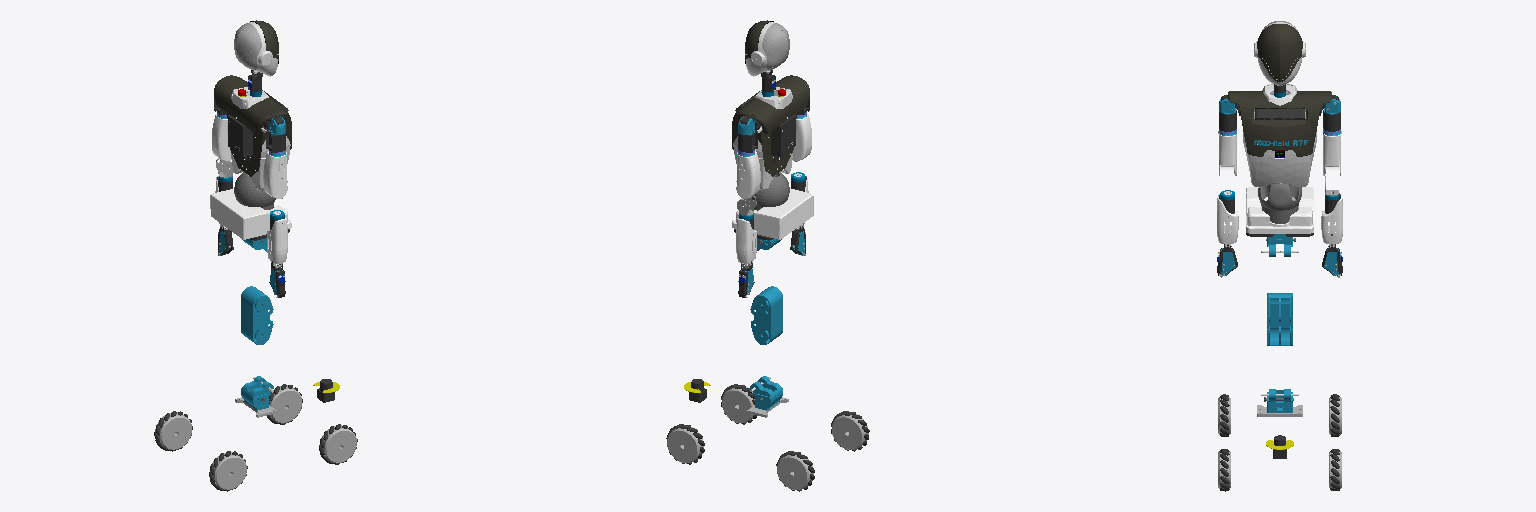
--- What the picture shows (computed from the rendered views, not written in the file) ---
The picture shows the robot from 3 angles, left to right: view 1: azimuth 30°, elevation 25°; view 2: azimuth 150°, elevation 25°; view 3: azimuth 270°, elevation 25°; orthographic projection.
Model SEED-Noid-Mover-typeF with 55 links and 54 joints (32 revolute, 2 continuous, 20 fixed), rooted at base_link, posed every joint at zero.
Visible links, largest first — view 1: body_link, waist_link, head_link, leg_knee_link, wheels_front_right_mecanum, wheels_rear_right_mecanum, wheels_rear_left_mecanum, wheels_front_left_mecanum, r_forearm_link, lifter_base_link, r_upperarm_link, hip_sphere_link (+2 smaller); view 2: body_link, head_link, waist_link, leg_knee_link, wheels_front_left_mecanum, wheels_rear_left_mecanum, wheels_rear_right_mecanum, wheels_front_right_mecanum, lifter_base_link, l_upperarm_link, l_forearm_link, hip_sphere_link (+2 smaller); view 3: body_link, head_link, waist_link, leg_knee_link, hip_sphere_link, r_forearm_link, l_forearm_link, lifter_base_link, l_upperarm_link, r_upperarm_link, l_shoulder_center, r_shoulder_center (+4 smaller).
Boxes of the visible links, <box> form: body_link: <box>214,75,291,190</box>; waist_link: <box>210,189,291,239</box>; head_link: <box>234,20,278,76</box>; leg_knee_link: <box>241,286,273,344</box>; wheels_front_right_mecanum: <box>319,424,357,464</box>; wheels_rear_right_mecanum: <box>209,451,247,491</box>; wheels_rear_left_mecanum: <box>154,411,192,451</box>; wheels_front_left_mecanum: <box>267,384,302,424</box>; r_forearm_link: <box>267,210,287,267</box>; lifter_base_link: <box>235,376,276,417</box>; r_upperarm_link: <box>263,151,287,198</box>; hip_sphere_link: <box>234,172,275,209</box>; body_link: <box>732,75,809,189</box>; head_link: <box>745,20,789,76</box>; waist_link: <box>732,188,813,239</box>; leg_knee_link: <box>750,286,782,344</box>; wheels_front_left_mecanum: <box>666,424,704,464</box>; wheels_rear_left_mecanum: <box>776,451,814,491</box>; wheels_rear_right_mecanum: <box>831,411,869,451</box>; wheels_front_right_mecanum: <box>721,384,756,424</box>; lifter_base_link: <box>747,376,788,417</box>; l_upperarm_link: <box>736,151,760,198</box>; l_forearm_link: <box>736,213,756,267</box>; hip_sphere_link: <box>750,172,789,210</box>; body_link: <box>1227,83,1332,187</box>; head_link: <box>1254,21,1305,85</box>; waist_link: <box>1246,187,1313,233</box>; leg_knee_link: <box>1267,293,1292,345</box>; hip_sphere_link: <box>1258,184,1301,223</box>; r_forearm_link: <box>1217,190,1238,247</box>; l_forearm_link: <box>1321,192,1342,247</box>; lifter_base_link: <box>1257,389,1302,416</box>; l_upperarm_link: <box>1323,131,1341,175</box>; r_upperarm_link: <box>1218,131,1236,175</box>; l_shoulder_center: <box>1323,99,1340,135</box>; r_shoulder_center: <box>1219,99,1236,135</box>.
Size in the robot's own frame: 0.6423 by 0.4477 by 1.71 metres.
Meshes: 30 distinct files referenced, 26 mesh visuals loaded (21 Collada DAE); not drawn: 15 (reference not matched to a file when rendering).

The robot description file, URDF, robot "SEED-Noid-Mover-typeF":
<?xml version="1.0" ?>
<!-- =================================================================================== -->
<!-- |    This document was autogenerated by xacro from noid.urdf.xacro                | -->
<!-- |    EDITING THIS FILE BY HAND IS NOT RECOMMENDED                                 | -->
<!-- =================================================================================== -->
<robot name="SEED-Noid-Mover-typeF" xmlns:xacro="http://ros.org/wiki/xacro">
  <!-- ============================   typeF_upper   ============================ -->
  <link name="waist_link">
    <visual>
      <origin rpy="0 -0 0" xyz="0 0 0"/>
      <geometry>
        <mesh filename="package://noid_description/meshes/typeF_upperbody/WAIST_LINK0_mesh.dae" scale="1 1 1"/>
      </geometry>
    </visual>
    <collision>
      <origin rpy="0 -0 0" xyz="0 0 0"/>
      <geometry>
        <mesh filename="package://noid_description/meshes/typeF_upperbody/WAIST_LINK0_mesh.dae" scale="1 1 1"/>
      </geometry>
    </collision>
    <inertial>
      <mass value="1.257"/>
      <origin rpy="0 -0 0" xyz="0 0 0.0"/>
      <inertia ixx="0.034" ixy="0" ixz="0" iyy="0.034" iyz="0" izz="0.018"/>
    </inertial>
  </link>
  <gazebo reference="waist_link">
    <mu1>0.9</mu1>
    <mu2>0.9</mu2>
  </gazebo>
  <link name="hip_sphere_link">
    <visual>
      <origin rpy="0 -0 0" xyz="0 0 0"/>
      <geometry>
        <mesh filename="package://noid_description/meshes/typeF_upperbody/WAIST_LINK1_mesh.dae" scale="1 1 1"/>
      </geometry>
    </visual>
    <collision>
      <origin rpy="0 -0 0" xyz="0 0 0"/>
      <geometry>
        <mesh filename="package://noid_description/meshes/typeF_upperbody/WAIST_LINK1_mesh.dae" scale="1 1 1"/>
      </geometry>
    </collision>
    <inertial>
      <mass value="1.257"/>
      <origin rpy="0 -0 0" xyz="0 0 0.042"/>
      <!-- inertia ixx="0.034" ixy="0" ixz="0" iyy="0.034" iyz="0" izz="0.018"/ -->
      <!-- just fixed for gazebo / reduce inertia-->
      <inertia ixx="0.01" ixy="0" ixz="0" iyy="0.01" iyz="0" izz="0.007"/>
    </inertial>
  </link>
  <gazebo reference="hip_sphere_link">
    <mu1>0.9</mu1>
    <mu2>0.9</mu2>
  </gazebo>
  <link name="hip_center">
    <inertial>
      <mass value="0.1"/>
      <origin rpy="0 -0 0" xyz="0 0 0"/>
      <!--inertia ixx="0.01" ixy="0" ixz="0" iyy="0.01" iyz="0" izz="0.01"/-->
      <!-- just fixed for gazebo / reduce inertia-->
      <inertia ixx="0.003" ixy="0" ixz="0" iyy="0.003" iyz="0" izz="0.003"/>
    </inertial>
  </link>
  <gazebo reference="hip_center">
    <mu1>0.9</mu1>
    <mu2>0.9</mu2>
  </gazebo>
  <link name="body_link">
    <visual>
      <origin rpy="0 -0 0" xyz="0 0 0"/>
      <geometry>
        <mesh filename="package://noid_description/meshes/typeF_upperbody/WAIST_LINK3_mesh.dae" scale="1 1 1"/>
      </geometry>
    </visual>
    <collision>
      <origin rpy="0 -0 0" xyz="0 0 0"/>
      <geometry>
        <mesh filename="package://noid_description/meshes/typeF_upperbody/WAIST_LINK3_mesh.dae" scale="1 1 1"/>
      </geometry>
    </collision>
    <inertial>
      <mass value="10.551"/>
      <origin rpy="0 -0 0" xyz="0 0 0.22"/>
      <inertia ixx="0.13" ixy="0" ixz="0" iyy="0.12" iyz="0" izz="0.114"/>
    </inertial>
  </link>
  <gazebo reference="body_link">
    <mu1>0.9</mu1>
    <mu2>0.9</mu2>
  </gazebo>
  <link name="l_shoulder_link">
    <visual>
      <origin rpy="-0.174532925 -0 0" xyz="0 0 0"/>
      <geometry>
        <mesh filename="package://noid_description/meshes/typeF_upperbody/LARM_LINK1_mesh.dae" scale="1 1 1"/>
      </geometry>
    </visual>
    <collision>
      <origin rpy="-0.174532925 -0 0" xyz="0 0 0"/>
      <geometry>
        <mesh filename="package://noid_description/meshes/typeF_upperbody/LARM_LINK1_mesh.dae" scale="1 1 1"/>
      </geometry>
    </collision>
    <inertial>
      <mass value="0.242"/>
      <!--origin xyz="0 0.02 0" rpy="0 -0 0"/>
      <inertia ixx="0.000228" ixy="0" ixz="0" iyy="0.000148" iyz="0" izz="0.000263"/-->
      <!-- just fixed for gazebo / increase inertia-->
      <origin rpy="0 -0 0" xyz="0 0.02 0.015"/>
      <inertia ixx="0.00133" ixy="0" ixz="0" iyy="0.001" iyz="0" izz="0.00133"/>
    </inertial>
  </link>
  <gazebo reference="l_shoulder_link">
    <mu1>0.9</mu1>
    <mu2>0.9</mu2>
  </gazebo>
  <link name="l_shoulder_center">
    <visual>
      <origin rpy="0 -0 0" xyz="0 0 0"/>
      <geometry>
        <mesh filename="package://noid_description/meshes/typeF_upperbody/LARM_LINK2_mesh.dae" scale="1 1 1"/>
      </geometry>
    </visual>
    <collision>
      <origin rpy="0 -0 0" xyz="0 0 0"/>
      <geometry>
        <mesh filename="package://noid_description/meshes/typeF_upperbody/LARM_LINK2_mesh.dae" scale="1 1 1"/>
      </geometry>
    </collision>
    <inertial>
      <mass value="0.744"/>
      <!--origin xyz="0 0.01 0" rpy="0 -0 0"/-->
      <origin rpy="0 -0 0" xyz="0 -0.01 -0.06"/>
      <inertia ixx="0.000841" ixy="0" ixz="0" iyy="0.000835" iyz="0" izz="0.000304"/>
    </inertial>
  </link>
  <gazebo reference="l_shoulder_center">
    <mu1>0.9</mu1>
    <mu2>0.9</mu2>
  </gazebo>
  <link name="l_upperarm_link">
    <visual>
      <origin rpy="0 -0 0" xyz="0 0 0"/>
      <geometry>
        <mesh filename="package://noid_description/meshes/typeF_upperbody/LARM_LINK3_mesh.dae" scale="1 1 1"/>
      </geometry>
    </visual>
    <collision>
      <origin rpy="0 -0 0" xyz="0 0 0"/>
      <geometry>
        <mesh filename="package://noid_description/meshes/typeF_upperbody/LARM_LINK3_mesh.dae" scale="1 1 1"/>
      </geometry>
    </collision>
    <inertial>
      <mass value="0.574"/>
      <!--origin xyz="0.005 0 -0.0654" rpy="0 -0 0"/>
      <inertia ixx="0.00114" ixy="0" ixz="0" iyy="0.00117" iyz="0" izz="0.000269"/-->
      <!-- fix for gazebo -->
      <origin rpy="0 -0 0" xyz="0.005 0 -0.0654"/>
      <inertia ixx="0.00214" ixy="0" ixz="0" iyy="0.00217" iyz="0" izz="0.003"/>
    </inertial>
  </link>
  <gazebo reference="l_upperarm_link">
    <mu1>0.9</mu1>
    <mu2>0.9</mu2>
  </gazebo>
  <link name="l_elbow_link">
    <visual>
      <origin rpy="0 -0 0" xyz="-0.035 0 -0.035"/>
      <geometry>
        <mesh filename="package://noid_description/meshes/typeF_upperbody/LARM_LINK4_mesh.dae" scale="1 1 1"/>
      </geometry>
    </visual>
    <collision>
      <origin rpy="0 -0 0" xyz="-0.035 0 -0.035"/>
      <geometry>
        <mesh filename="package://noid_description/meshes/typeF_upperbody/LARM_LINK4_mesh.dae" scale="1 1 1"/>
      </geometry>
    </collision>
    <inertial>
      <mass value="0.711"/>
      <!--origin xyz="0.0047 0 -0.0546" rpy="0 -0 0"/>
      <inertia ixx="0.00178" ixy="0" ixz="0" iyy="0.00179" iyz="0" izz="0.000273"/-->
      <!-- fix for gazebo -->
      <origin rpy="0 -0 0" xyz="-0.03 0 -0.0546"/>
      <inertia ixx="0.00178" ixy="0" ixz="0" iyy="0.00179" iyz="0" izz="0.0035"/>
    </inertial>
  </link>
  <gazebo reference="l_elbow_link">
    <mu1>0.9</mu1>
    <mu2>0.9</mu2>
  </gazebo>
  <link name="l_forearm_link">
    <visual>
      <origin rpy="0 0 -1.5707963267948966" xyz="0 0 0"/>
      <geometry>
        <mesh filename="package://noid_description/meshes/typeF_upperbody/LARM_LINK5_mesh.dae" scale="1 1 1"/>
      </geometry>
    </visual>
    <collision>
      <origin rpy="0 0 -1.5707963267948966" xyz="0 0 0"/>
      <geometry>
        <mesh filename="package://noid_description/meshes/typeF_upperbody/LARM_LINK5_mesh.dae" scale="1 1 1"/>
      </geometry>
    </collision>
    <inertial>
      <mass value="0.132"/>
      <origin rpy="0 -0 0" xyz="0.006 0 -0.0738"/>
      <!--inertia ixx="0.00276" ixy="0" ixz="0" iyy="0.00286" iyz="0" izz="0.004"/-->
      <inertia ixx="0.0007" ixy="0" ixz="0" iyy="0.0007" iyz="0" izz="0.0004"/>
    </inertial>
  </link>
  <gazebo reference="l_forearm_link">
    <mu1>0.9</mu1>
    <mu2>0.9</mu2>
  </gazebo>
  <link name="l_wrist_center">
    <inertial>
      <mass value="0.05"/>
      <origin rpy="0 -0 0" xyz="0 0 0"/>
      <inertia ixx="0.0001" ixy="0" ixz="0" iyy="0.0001" iyz="0" izz="0.0001"/>
    </inertial>
  </link>
  <gazebo reference="l_wrist_center">
    <mu1>0.9</mu1>
    <mu2>0.9</mu2>
  </gazebo>
  <link name="neck_link">
    <visual>
      <origin rpy="0 -0 0" xyz="0 0 0"/>
      <geometry>
        <mesh filename="package://noid_description/meshes/typeF_upperbody/NECK_LINK1_mesh.dae" scale="1 1 1"/>
      </geometry>
    </visual>
    <collision>
      <origin rpy="0 -0 0" xyz="0 0 0"/>
      <geometry>
        <mesh filename="package://noid_description/meshes/typeF_upperbody/NECK_LINK1_mesh.dae" scale="1 1 1"/>
      </geometry>
    </collision>
    <inertial>
      <mass value="0.341"/>
      <origin rpy="0 -0 0" xyz="0 0 0.0595"/>
      <!--inertia ixx="1.64186e-35" ixy="0" ixz="0" iyy="1.64186e-35" iyz="0" izz="0"/-->
      <inertia ixx="0.001" ixy="0" ixz="0" iyy="0.001" iyz="0" izz="0.002"/>
    </inertial>
  </link>
  <gazebo reference="neck_link">
    <mu1>0.9</mu1>
    <mu2>0.9</mu2>
  </gazebo>
  <link name="head_base_link">
    <visual>
      <origin rpy="0 -0 0" xyz="0 0 0"/>
      <geometry>
        <mesh filename="package://noid_description/meshes/typeF_upperbody/NECK_LINK2_mesh.dae" scale="1 1 1"/>
      </geometry>
    </visual>
    <collision>
      <origin rpy="0 -0 0" xyz="0 0 0"/>
      <geometry>
        <mesh filename="package://noid_description/meshes/typeF_upperbody/NECK_LINK2_mesh.dae" scale="1 1 1"/>
      </geometry>
    </collision>
    <inertial>
      <mass value="0.1"/>
      <origin rpy="0 -0 0" xyz="0 0 0"/>
      <inertia ixx="0.0005" ixy="0" ixz="0" iyy="0.0005" iyz="0" izz="0.0005"/>
    </inertial>
  </link>
  <gazebo reference="head_base_link">
    <mu1>0.9</mu1>
    <mu2>0.9</mu2>
  </gazebo>
  <link name="head_link">
    <visual>
      <origin rpy="0 -0 0" xyz="0 0 0"/>
      <geometry>
        <mesh filename="package://noid_description/meshes/typeF_upperbody/NECK_LINK3_mesh.dae" scale="1 1 1"/>
      </geometry>
    </visual>
    <collision>
      <origin rpy="0 -0 0" xyz="0 0 0"/>
      <geometry>
        <mesh filename="package://noid_description/meshes/typeF_upperbody/NECK_LINK3_mesh.dae" scale="1 1 1"/>
      </geometry>
    </collision>
    <inertial>
      <mass value="0.974"/>
      <origin rpy="0 -0 0" xyz="0.01 0 0.070"/>
      <inertia ixx="0.005" ixy="0" ixz="0" iyy="0.005" iyz="0" izz="0.005"/>
    </inertial>
  </link>
  <gazebo reference="head_link">
    <mu1>0.9</mu1>
    <mu2>0.9</mu2>
  </gazebo>
  <link name="r_shoulder_link">
    <visual>
      <origin rpy="0.174532925 -0 0" xyz="0 0 0"/>
      <geometry>
        <mesh filename="package://noid_description/meshes/typeF_upperbody/RARM_LINK1_mesh.dae" scale="1 1 1"/>
      </geometry>
    </visual>
    <collision>
      <origin rpy="0.174532925 -0 0" xyz="0 0 0"/>
      <geometry>
        <mesh filename="package://noid_description/meshes/typeF_upperbody/RARM_LINK1_mesh.dae" scale="1 1 1"/>
      </geometry>
    </collision>
    <inertial>
      <mass value="0.242"/>
      <!--origin xyz="0 -0.02 0" rpy="0 -0 0"/>
      <inertia ixx="0.000228" ixy="0" ixz="0" iyy="0.000148" iyz="0" izz="0.000263"/-->
      <origin rpy="0 -0 0" xyz="0 -0.02 0.015"/>
      <inertia ixx="0.00133" ixy="0" ixz="0" iyy="0.001" iyz="0" izz="0.00133"/>
    </inertial>
  </link>
  <gazebo reference="r_shoulder_link">
    <mu1>0.9</mu1>
    <mu2>0.9</mu2>
  </gazebo>
  <link name="r_shoulder_center">
    <visual>
      <origin rpy="0 -0 0" xyz="0 0 0"/>
      <geometry>
        <mesh filename="package://noid_description/meshes/typeF_upperbody/RARM_LINK2_mesh.dae" scale="1 1 1"/>
      </geometry>
    </visual>
    <collision>
      <origin rpy="0 -0 0" xyz="0 0 0"/>
      <geometry>
        <mesh filename="package://noid_description/meshes/typeF_upperbody/RARM_LINK2_mesh.dae" scale="1 1 1"/>
      </geometry>
    </collision>
    <inertial>
      <mass value="0.744"/>
      <!--origin xyz="0 -0.01 0" rpy="0 -0 0"/-->
      <origin rpy="0 -0 0" xyz="0 0.01 -0.06"/>
      <inertia ixx="0.000841" ixy="0" ixz="0" iyy="0.000835" iyz="0" izz="0.000305"/>
    </inertial>
  </link>
  <gazebo reference="r_shoulder_center">
    <mu1>0.9</mu1>
    <mu2>0.9</mu2>
  </gazebo>
  <link name="r_upperarm_link">
    <visual>
      <origin rpy="0 -0 0" xyz="0 0 0"/>
      <geometry>
        <mesh filename="package://noid_description/meshes/typeF_upperbody/RARM_LINK3_mesh.dae" scale="1 1 1"/>
      </geometry>
    </visual>
    <collision>
      <origin rpy="0 -0 0" xyz="0 0 0"/>
      <geometry>
        <mesh filename="package://noid_description/meshes/typeF_upperbody/RARM_LINK3_mesh.dae" scale="1 1 1"/>
      </geometry>
    </collision>
    <inertial>
      <mass value="0.574"/>
      <!--origin xyz="0.005 0 -0.0654" rpy="0 -0 0"/>
      <inertia ixx="0.00114" ixy="0" ixz="0" iyy="0.00117" iyz="0" izz="0.000269"/-->
      <!-- fix for gazebo -->
      <origin rpy="0 -0 0" xyz="0.005 0 -0.0654"/>
      <inertia ixx="0.00214" ixy="0" ixz="0" iyy="0.00217" iyz="0" izz="0.003"/>
    </inertial>
  </link>
  <gazebo reference="r_upperarm_link">
    <mu1>0.9</mu1>
    <mu2>0.9</mu2>
  </gazebo>
  <link name="r_elbow_link">
    <visual>
      <origin rpy="0 -0 0" xyz="-0.035 0 -0.035"/>
      <geometry>
        <mesh filename="package://noid_description/meshes/typeF_upperbody/RARM_LINK4_mesh.dae" scale="1 1 1"/>
      </geometry>
    </visual>
    <collision>
      <origin rpy="0 -0 0" xyz="-0.035 0 -0.035"/>
      <geometry>
        <mesh filename="package://noid_description/meshes/typeF_upperbody/RARM_LINK4_mesh.dae" scale="1 1 1"/>
      </geometry>
    </collision>
    <inertial>
      <mass value="0.711"/>
      <!--origin xyz="0.0047 0 -0.0546" rpy="0 -0 0"/>
      <inertia ixx="0.00178" ixy="0" ixz="0" iyy="0.00179" iyz="0" izz="0.000273"/-->
      <!-- fix for gazebo -->
      <origin rpy="0 -0 0" xyz="-0.03 0 -0.0546"/>
      <inertia ixx="0.00178" ixy="0" ixz="0" iyy="0.00179" iyz="0" izz="0.0035"/>
    </inertial>
  </link>
  <gazebo reference="r_elbow_link">
    <mu1>0.9</mu1>
    <mu2>0.9</mu2>
  </gazebo>
  <link name="r_forearm_link">
    <visual>
      <origin rpy="0 0 1.5707963267948966" xyz="0 0 0"/>
      <geometry>
        <mesh filename="package://noid_description/meshes/typeF_upperbody/RARM_LINK5_mesh.dae" scale="1 1 1"/>
      </geometry>
    </visual>
    <collision>
      <origin rpy="0 0 1.5707963267948966" xyz="0 0 0"/>
      <geometry>
        <mesh filename="package://noid_description/meshes/typeF_upperbody/RARM_LINK5_mesh.dae" scale="1 1 1"/>
      </geometry>
    </collision>
    <inertial>
      <mass value="0.132"/>
      <origin rpy="0 -0 0" xyz="0.006 0 -0.0738"/>
      <!--inertia ixx="0.00276" ixy="0" ixz="0" iyy="0.00286" iyz="0" izz="0.004"/-->
      <inertia ixx="0.0007" ixy="0" ixz="0" iyy="0.0007" iyz="0" izz="0.0004"/>
    </inertial>
  </link>
  <gazebo reference="r_forearm_link">
    <mu1>0.9</mu1>
    <mu2>0.9</mu2>
  </gazebo>
  <link name="r_wrist_center">
    <inertial>
      <mass value="0.05"/>
      <origin rpy="0 -0 0" xyz="0 0 0"/>
      <inertia ixx="0.0001" ixy="0" ixz="0" iyy="0.0001" iyz="0" izz="0.0001"/>
    </inertial>
  </link>
  <gazebo reference="r_wrist_center">
    <mu1>0.9</mu1>
    <mu2>0.9</mu2>
  </gazebo>
  <joint name="waist_y_joint" type="revolute">
    <parent link="waist_link"/>
    <child link="hip_sphere_link"/>
    <origin rpy="0 -0 0 " xyz="0 0 0.010"/>
    <axis xyz="0 0 1"/>
    <!-- from -120 to 120 degrees-->
    <limit effort="500" lower="-2.09" upper="2.09" velocity="0.6"/>
    <dynamics damping="0.2" friction="0"/>
  </joint>
  <transmission name="waist_y_joint_trans">
    <type>transmission_interface/SimpleTransmission</type>
    <joint name="waist_y_joint">
      <!-- dupricated in kinetic -->
      <!--hardwareInterface>hardware_interface/EffortJointInterface</hardwareInterface-->
      <!--hardwareInterface>EffortJointInterface</hardwareInterface-->
      <hardwareInterface>VelocityJointInterface</hardwareInterface>
    </joint>
    <actuator name="waist_y_joint_motor">
      <!-- dupricated in kinetic -->
      <!--hardwareInterface>hardware_interface/EffortJointInterface</hardwareInterface-->
      <!--hardwareInterface>EffortJointInterface</hardwareInterface-->
      <hardwareInterface>VelocityJointInterface</hardwareInterface>
      <mechanicalReduction>1</mechanicalReduction>
    </actuator>
  </transmission>
  <gazebo reference="waist_y_joint">
    <implicitSpringDamper>0</implicitSpringDamper>
  </gazebo>
  <joint name="waist_p_joint" type="revolute">
    <parent link="hip_sphere_link"/>
    <child link="hip_center"/>
    <origin rpy="0 -0 0 " xyz="0 0 0.1355"/>
    <axis xyz="0 1 0"/>
    <!-- from -5 to 35 degrees-->
    <limit effort="2000" lower="-0.087" upper="0.61" velocity="0.5"/>
    <dynamics damping="0.2" friction="0"/>
  </joint>
  <transmission name="waist_p_joint_trans">
    <type>transmission_interface/SimpleTransmission</type>
    <joint name="waist_p_joint">
      <!-- dupricated in kinetic -->
      <!--hardwareInterface>hardware_interface/EffortJointInterface</hardwareInterface-->
      <!--hardwareInterface>EffortJointInterface</hardwareInterface-->
      <hardwareInterface>VelocityJointInterface</hardwareInterface>
    </joint>
    <actuator name="waist_p_joint_motor">
      <!-- dupricated in kinetic -->
      <!--hardwareInterface>hardware_interface/EffortJointInterface</hardwareInterface-->
      <!--hardwareInterface>EffortJointInterface</hardwareInterface-->
      <hardwareInterface>VelocityJointInterface</hardwareInterface>
      <mechanicalReduction>1</mechanicalReduction>
    </actuator>
  </transmission>
  <gazebo reference="waist_p_joint">
    <implicitSpringDamper>0</implicitSpringDamper>
  </gazebo>
  <joint name="waist_r_joint" type="revolute">
    <parent link="hip_center"/>
    <child link="body_link"/>
    <origin rpy="0 -0 0 " xyz="0 0 0"/>
    <axis xyz="1 0 0"/>
    <!-- from -1 to 1 degrees-->
    <limit effort="2000" lower="-0.017" upper="0.017" velocity="0.4"/>
    <dynamics damping="0.2" friction="0"/>
  </joint>
  <transmission name="waist_r_joint_trans">
    <type>transmission_interface/SimpleTransmission</type>
    <joint name="waist_r_joint">
      <!-- dupricated in kinetic -->
      <!--hardwareInterface>hardware_interface/EffortJointInterface</hardwareInterface-->
      <!--hardwareInterface>EffortJointInterface</hardwareInterface-->
      <hardwareInterface>VelocityJointInterface</hardwareInterface>
    </joint>
    <actuator name="waist_r_joint_motor">
      <!-- dupricated in kinetic -->
      <!--hardwareInterface>hardware_interface/EffortJointInterface</hardwareInterface-->
      <!--hardwareInterface>EffortJointInterface</hardwareInterface-->
      <hardwareInterface>VelocityJointInterface</hardwareInterface>
      <mechanicalReduction>1</mechanicalReduction>
    </actuator>
  </transmission>
  <gazebo reference="waist_r_joint">
    <implicitSpringDamper>0</implicitSpringDamper>
  </gazebo>
  <joint name="l_shoulder_p_joint" type="revolute">
    <parent link="body_link"/>
    <child link="l_shoulder_link"/>
    <origin rpy="0 -0 0 " xyz="-0.01815 0.1342 0.3049"/>
    <axis xyz="0 0.984808 -0.173648"/>
    <!-- from -88 to 15 degrees-->
    <limit effort="200" lower="-1.535" upper="0.261" velocity="0.4"/>
    <dynamics damping="0.2" friction="0"/>
  </joint>
  <transmission name="l_shoulder_p_joint_trans">
    <type>transmission_interface/SimpleTransmission</type>
    <joint name="l_shoulder_p_joint">
      <!-- dupricated in kinetic -->
      <!--hardwareInterface>hardware_interface/EffortJointInterface</hardwareInterface-->
      <!--hardwareInterface>EffortJointInterface</hardwareInterface-->
      <hardwareInterface>VelocityJointInterface</hardwareInterface>
    </joint>
    <actuator name="l_shoulder_p_joint_motor">
      <!-- dupricated in kinetic -->
      <!--hardwareInterface>hardware_interface/EffortJointInterface</hardwareInterface-->
      <!--hardwareInterface>EffortJointInterface</hardwareInterface-->
      <hardwareInterface>VelocityJointInterface</hardwareInterface>
      <mechanicalReduction>1</mechanicalReduction>
    </actuator>
  </transmission>
  <gazebo reference="l_shoulder_p_joint">
    <implicitSpringDamper>0</implicitSpringDamper>
  </gazebo>
  <joint name="l_shoulder_r_joint" type="revolute">
    <parent link="l_shoulder_link"/>
    <child link="l_shoulder_center"/>
    <origin rpy="0 -0 0 " xyz="0 0.05978 0.028046"/>
    <axis xyz="1 0 0"/>
    <!-- from 0 to 90 degrees-->
    <limit effort="100" lower="0" upper="1.5707" velocity="0.6"/>
    <dynamics damping="0.2" friction="0"/>
  </joint>
  <transmission name="l_shoulder_r_joint_trans">
    <type>transmission_interface/SimpleTransmission</type>
    <joint name="l_shoulder_r_joint">
      <!-- dupricated in kinetic -->
      <!--hardwareInterface>hardware_interface/EffortJointInterface</hardwareInterface-->
      <!--hardwareInterface>EffortJointInterface</hardwareInterface-->
      <hardwareInterface>VelocityJointInterface</hardwareInterface>
    </joint>
    <actuator name="l_shoulder_r_joint_motor">
      <!-- dupricated in kinetic -->
      <!--hardwareInterface>hardware_interface/EffortJointInterface</hardwareInterface-->
      <!--hardwareInterface>EffortJointInterface</hardwareInterface-->
      <hardwareInterface>VelocityJointInterface</hardwareInterface>
      <mechanicalReduction>1</mechanicalReduction>
    </actuator>
  </transmission>
  <gazebo reference="l_shoulder_r_joint">
    <implicitSpringDamper>0</implicitSpringDamper>
  </gazebo>
  <joint name="l_shoulder_y_joint" type="revolute">
    <parent link="l_shoulder_center"/>
    <child link="l_upperarm_link"/>
    <origin rpy="0 -0 0 " xyz="0 -0.010 -0.127"/>
    <axis xyz="0 0 1"/>
    <!-- from -180 to 45 degrees-->
    <limit effort="100" lower="-1.5707" upper="0.785398" velocity="1.2"/>
    <dynamics damping="0.2" friction="0"/>
  </joint>
  <transmission name="l_shoulder_y_joint_trans">
    <type>transmission_interface/SimpleTransmission</type>
    <joint name="l_shoulder_y_joint">
      <!-- dupricated in kinetic -->
      <!--hardwareInterface>hardware_interface/EffortJointInterface</hardwareInterface-->
      <!--hardwareInterface>EffortJointInterface</hardwareInterface-->
      <hardwareInterface>VelocityJointInterface</hardwareInterface>
    </joint>
    <actuator name="l_shoulder_y_joint_motor">
      <!-- dupricated in kinetic -->
      <!--hardwareInterface>hardware_interface/EffortJointInterface</hardwareInterface-->
      <!--hardwareInterface>EffortJointInterface</hardwareInterface-->
      <hardwareInterface>VelocityJointInterface</hardwareInterface>
      <mechanicalReduction>1</mechanicalReduction>
    </actuator>
  </transmission>
  <gazebo reference="l_shoulder_y_joint">
    <implicitSpringDamper>0</implicitSpringDamper>
  </gazebo>
  <joint name="l_elbow_joint" type="revolute">
    <parent link="l_upperarm_link"/>
    <child link="l_elbow_link"/>
    <origin rpy="0 -0 0 " xyz="0.035 0 -0.1625"/>
    <axis xyz="0 1 0"/>
    <!-- from -171 to 0 degrees-->
    <limit effort="100" lower="-3.0" upper="0" velocity="1.2"/>
    <dynamics damping="0.2" friction="0"/>
  </joint>
  <transmission name="l_elbow_joint_trans">
    <type>transmission_interface/SimpleTransmission</type>
    <joint name="l_elbow_joint">
      <!-- dupricated in kinetic -->
      <!--hardwareInterface>hardware_interface/EffortJointInterface</hardwareInterface-->
      <!--hardwareInterface>EffortJointInterface</hardwareInterface-->
      <hardwareInterface>VelocityJointInterface</hardwareInterface>
    </joint>
    <actuator name="l_elbow_joint_motor">
      <!-- dupricated in kinetic -->
      <!--hardwareInterface>hardware_interface/EffortJointInterface</hardwareInterface-->
      <!--hardwareInterface>EffortJointInterface</hardwareInterface-->
      <hardwareInterface>VelocityJointInterface</hardwareInterface>
      <mechanicalReduction>1</mechanicalReduction>
    </actuator>
  </transmission>
  <gazebo reference="l_elbow_joint">
    <implicitSpringDamper>0</implicitSpringDamper>
  </gazebo>
  <joint name="l_wrist_y_joint" type="revolute">
    <parent link="l_elbow_link"/>
    <child link="l_forearm_link"/>
    <origin rpy="0 -0 0 " xyz="-0.035 0 -0.070"/>
    <axis xyz="0 0 1"/>
    <!-- from -180 to 180 degrees-->
    <limit effort="100" lower="-1.5707" upper="1.5707" velocity="1.3"/>
    <dynamics damping="0.2" friction="0"/>
  </joint>
  <transmission name="l_wrist_y_joint_trans">
    <type>transmission_interface/SimpleTransmission</type>
    <joint name="l_wrist_y_joint">
      <!-- dupricated in kinetic -->
      <!--hardwareInterface>hardware_interface/EffortJointInterface</hardwareInterface-->
      <!--hardwareInterface>EffortJointInterface</hardwareInterface-->
      <hardwareInterface>VelocityJointInterface</hardwareInterface>
    </joint>
    <actuator name="l_wrist_y_joint_motor">
      <!-- dupricated in kinetic -->
      <!--hardwareInterface>hardware_interface/EffortJointInterface</hardwareInterface-->
      <!--hardwareInterface>EffortJointInterface</hardwareInterface-->
      <hardwareInterface>VelocityJointInterface</hardwareInterface>
      <mechanicalReduction>1</mechanicalReduction>
    </actuator>
  </transmission>
  <gazebo reference="l_wrist_y_joint">
    <implicitSpringDamper>0</implicitSpringDamper>
  </gazebo>
  <joint name="l_wrist_p_joint" type="revolute">
    <parent link="l_forearm_link"/>
    <child link="l_wrist_center"/>
    <origin rpy="0 -0 0 " xyz="0 0 -0.1955"/>
    <axis xyz="0 1 0"/>
    <!-- from -5 to 5 degrees-->
    <limit effort="100" lower="-0.087" upper="0.087" velocity="0.9"/>
    <dynamics damping="0.2" friction="0"/>
  </joint>
  <transmission name="l_wrist_p_joint_trans">
    <type>transmission_interface/SimpleTransmission</type>
    <joint name="l_wrist_p_joint">
      <!-- dupricated in kinetic -->
      <!--hardwareInterface>hardware_interface/EffortJointInterface</hardwareInterface-->
      <!--hardwareInterface>EffortJointInterface</hardwareInterface-->
      <hardwareInterface>VelocityJointInterface</hardwareInterface>
    </joint>
    <actuator name="l_wrist_p_joint_motor">
      <!-- dupricated in kinetic -->
      <!--hardwareInterface>hardware_interface/EffortJointInterface</hardwareInterface-->
      <!--hardwareInterface>EffortJointInterface</hardwareInterface-->
      <hardwareInterface>VelocityJointInterface</hardwareInterface>
      <mechanicalReduction>1</mechanicalReduction>
    </actuator>
  </transmission>
  <gazebo reference="l_wrist_p_joint">
    <implicitSpringDamper>0</implicitSpringDamper>
  </gazebo>
  <joint name="l_wrist_r_joint" type="revolute">
    <parent link="l_wrist_center"/>
    <child link="l_hand_link"/>
    <origin rpy="0 -0 0 " xyz="0 0 0"/>
    <axis xyz="1 0 0"/>
    <!-- from -85 to 25 degrees-->
    <limit effort="100" lower="-1.484" upper="0.436" velocity="2.1"/>
    <dynamics damping="0.2" friction="0"/>
  </joint>
  <transmission name="l_wrist_r_joint_trans">
    <type>transmission_interface/SimpleTransmission</type>
    <joint name="l_wrist_r_joint">
      <!-- dupricated in kinetic -->
      <!--hardwareInterface>hardware_interface/EffortJointInterface</hardwareInterface-->
      <!--hardwareInterface>EffortJointInterface</hardwareInterface-->
      <hardwareInterface>VelocityJointInterface</hardwareInterface>
    </joint>
    <actuator name="l_wrist_r_joint_motor">
      <!-- dupricated in kinetic -->
      <!--hardwareInterface>hardware_interface/EffortJointInterface</hardwareInterface-->
      <!--hardwareInterface>EffortJointInterface</hardwareInterface-->
      <hardwareInterface>VelocityJointInterface</hardwareInterface>
      <mechanicalReduction>1</mechanicalReduction>
    </actuator>
  </transmission>
  <gazebo reference="l_wrist_r_joint">
    <implicitSpringDamper>0</implicitSpringDamper>
  </gazebo>
  <joint name="neck_y_joint" type="revolute">
    <parent link="body_link"/>
    <child link="neck_link"/>
    <origin rpy="0 -0 0 " xyz="0 0 0.3535"/>
    <axis xyz="0 0 1"/>
    <!-- from -120 to 120 degrees-->
    <limit effort="100" lower="-2.09" upper="2.09" velocity="1.6"/>
    <dynamics damping="0.2" friction="0"/>
  </joint>
  <transmission name="neck_y_joint_trans">
    <type>transmission_interface/SimpleTransmission</type>
    <joint name="neck_y_joint">
      <!-- dupricated in kinetic -->
      <!--hardwareInterface>hardware_interface/EffortJointInterface</hardwareInterface-->
      <!--hardwareInterface>EffortJointInterface</hardwareInterface-->
      <hardwareInterface>VelocityJointInterface</hardwareInterface>
    </joint>
    <actuator name="neck_y_joint_motor">
      <!-- dupricated in kinetic -->
      <!--hardwareInterface>hardware_interface/EffortJointInterface</hardwareInterface-->
      <!--hardwareInterface>EffortJointInterface</hardwareInterface-->
      <hardwareInterface>VelocityJointInterface</hardwareInterface>
      <mechanicalReduction>1</mechanicalReduction>
    </actuator>
  </transmission>
  <gazebo reference="neck_y_joint">
    <implicitSpringDamper>0</implicitSpringDamper>
  </gazebo>
  <joint name="neck_p_joint" type="revolute">
    <parent link="neck_link"/>
    <child link="head_base_link"/>
    <origin rpy="0 -0 0 " xyz="0 0 0.1045"/>
    <axis xyz="0 1 0"/>
    <!-- from -15 to 55 degrees-->
    <limit effort="100" lower="-0.262" upper="0.96" velocity="2.1"/>
    <dynamics damping="0.2" friction="0"/>
  </joint>
  <transmission name="neck_p_joint_trans">
    <type>transmission_interface/SimpleTransmission</type>
    <joint name="neck_p_joint">
      <!-- dupricated in kinetic -->
      <!--hardwareInterface>hardware_interface/EffortJointInterface</hardwareInterface-->
      <!--hardwareInterface>EffortJointInterface</hardwareInterface-->
      <hardwareInterface>VelocityJointInterface</hardwareInterface>
    </joint>
    <actuator name="neck_p_joint_motor">
      <!-- dupricated in kinetic -->
      <!--hardwareInterface>hardware_interface/EffortJointInterface</hardwareInterface-->
      <!--hardwareInterface>EffortJointInterface</hardwareInterface-->
      <hardwareInterface>VelocityJointInterface</hardwareInterface>
      <mechanicalReduction>1</mechanicalReduction>
    </actuator>
  </transmission>
  <gazebo reference="neck_p_joint">
    <implicitSpringDamper>0</implicitSpringDamper>
  </gazebo>
  <joint name="neck_r_joint" type="revolute">
    <parent link="head_base_link"/>
    <child link="head_link"/>
    <origin rpy="0 -0 0 " xyz="0 0 0"/>
    <axis xyz="1 0 0"/>
    <!-- from -5 to 5 degrees-->
    <limit effort="100" lower="-0.087" upper="0.087" velocity="0.9"/>
    <dynamics damping="0.2" friction="0"/>
  </joint>
  <transmission name="neck_r_joint_trans">
    <type>transmission_interface/SimpleTransmission</type>
    <joint name="neck_r_joint">
      <!-- dupricated in kinetic -->
      <!--hardwareInterface>hardware_interface/EffortJointInterface</hardwareInterface-->
      <!--hardwareInterface>EffortJointInterface</hardwareInterface-->
      <hardwareInterface>VelocityJointInterface</hardwareInterface>
    </joint>
    <actuator name="neck_r_joint_motor">
      <!-- dupricated in kinetic -->
      <!--hardwareInterface>hardware_interface/EffortJointInterface</hardwareInterface-->
      <!--hardwareInterface>EffortJointInterface</hardwareInterface-->
      <hardwareInterface>VelocityJointInterface</hardwareInterface>
      <mechanicalReduction>1</mechanicalReduction>
    </actuator>
  </transmission>
  <gazebo reference="neck_r_joint">
    <implicitSpringDamper>0</implicitSpringDamper>
  </gazebo>
  <joint name="r_shoulder_p_joint" type="revolute">
    <parent link="body_link"/>
    <child link="r_shoulder_link"/>
    <origin rpy="0 -0 0 " xyz="-0.01815 -0.1342 0.3049"/>
    <axis xyz="0 0.984808 0.173648"/>
    <!-- from -88 to 15 degrees-->
    <limit effort="200" lower="-1.535" upper="0.261" velocity="0.4"/>
    <dynamics damping="0.2" friction="0"/>
  </joint>
  <transmission name="r_shoulder_p_joint_trans">
    <type>transmission_interface/SimpleTransmission</type>
    <joint name="r_shoulder_p_joint">
      <!-- dupricated in kinetic -->
      <!--hardwareInterface>hardware_interface/EffortJointInterface</hardwareInterface-->
      <!--hardwareInterface>EffortJointInterface</hardwareInterface-->
      <hardwareInterface>VelocityJointInterface</hardwareInterface>
    </joint>
    <actuator name="r_shoulder_p_joint_motor">
      <!-- dupricated in kinetic -->
      <!--hardwareInterface>hardware_interface/EffortJointInterface</hardwareInterface-->
      <!--hardwareInterface>EffortJointInterface</hardwareInterface-->
      <hardwareInterface>VelocityJointInterface</hardwareInterface>
      <mechanicalReduction>1</mechanicalReduction>
    </actuator>
  </transmission>
  <gazebo reference="r_shoulder_p_joint">
    <implicitSpringDamper>0</implicitSpringDamper>
  </gazebo>
  <joint name="r_shoulder_r_joint" type="revolute">
    <parent link="r_shoulder_link"/>
    <child link="r_shoulder_center"/>
    <origin rpy="0 -0 0 " xyz="0 -0.059778 0.028046"/>
    <axis xyz="1 0 0"/>
    <!-- from -90 to 0 degrees-->
    <limit effort="100" lower="-1.5707" upper="0" velocity="0.6"/>
    <dynamics damping="0.2" friction="0"/>
  </joint>
  <transmission name="r_shoulder_r_joint_trans">
    <type>transmission_interface/SimpleTransmission</type>
    <joint name="r_shoulder_r_joint">
      <!-- dupricated in kinetic -->
      <!--hardwareInterface>hardware_interface/EffortJointInterface</hardwareInterface-->
      <!--hardwareInterface>EffortJointInterface</hardwareInterface-->
      <hardwareInterface>VelocityJointInterface</hardwareInterface>
    </joint>
    <actuator name="r_shoulder_r_joint_motor">
      <!-- dupricated in kinetic -->
      <!--hardwareInterface>hardware_interface/EffortJointInterface</hardwareInterface-->
      <!--hardwareInterface>EffortJointInterface</hardwareInterface-->
      <hardwareInterface>VelocityJointInterface</hardwareInterface>
      <mechanicalReduction>1</mechanicalReduction>
    </actuator>
  </transmission>
  <gazebo reference="r_shoulder_r_joint">
    <implicitSpringDamper>0</implicitSpringDamper>
  </gazebo>
  <joint name="r_shoulder_y_joint" type="revolute">
    <parent link="r_shoulder_center"/>
    <child link="r_upperarm_link"/>
    <origin rpy="0 -0 0 " xyz="0 0.010 -0.127"/>
    <axis xyz="0 0 1"/>
    <!-- from -45 to 180 degrees-->
    <limit effort="100" lower="-0.785398" upper="1.5707" velocity="1.2"/>
    <dynamics damping="0.2" friction="0"/>
  </joint>
  <transmission name="r_shoulder_y_joint_trans">
    <type>transmission_interface/SimpleTransmission</type>
    <joint name="r_shoulder_y_joint">
      <!-- dupricated in kinetic -->
      <!--hardwareInterface>hardware_interface/EffortJointInterface</hardwareInterface-->
      <!--hardwareInterface>EffortJointInterface</hardwareInterface-->
      <hardwareInterface>VelocityJointInterface</hardwareInterface>
    </joint>
    <actuator name="r_shoulder_y_joint_motor">
      <!-- dupricated in kinetic -->
      <!--hardwareInterface>hardware_interface/EffortJointInterface</hardwareInterface-->
      <!--hardwareInterface>EffortJointInterface</hardwareInterface-->
      <hardwareInterface>VelocityJointInterface</hardwareInterface>
      <mechanicalReduction>1</mechanicalReduction>
    </actuator>
  </transmission>
  <gazebo reference="r_shoulder_y_joint">
    <implicitSpringDamper>0</implicitSpringDamper>
  </gazebo>
  <joint name="r_elbow_joint" type="revolute">
    <parent link="r_upperarm_link"/>
    <child link="r_elbow_link"/>
    <origin rpy="0 -0 0 " xyz="0.035 0 -0.1625"/>
    <axis xyz="0 1 0"/>
    <!-- from -171 to 0 degrees-->
    <limit effort="100" lower="-3.0" upper="0" velocity="1.2"/>
    <dynamics damping="0.2" friction="0"/>
  </joint>
  <transmission name="r_elbow_joint_trans">
    <type>transmission_interface/SimpleTransmission</type>
    <joint name="r_elbow_joint">
      <!-- dupricated in kinetic -->
      <!--hardwareInterface>hardware_interface/EffortJointInterface</hardwareInterface-->
      <!--hardwareInterface>EffortJointInterface</hardwareInterface-->
      <hardwareInterface>VelocityJointInterface</hardwareInterface>
    </joint>
    <actuator name="r_elbow_joint_motor">
      <!-- dupricated in kinetic -->
      <!--hardwareInterface>hardware_interface/EffortJointInterface</hardwareInterface-->
      <!--hardwareInterface>EffortJointInterface</hardwareInterface-->
      <hardwareInterface>VelocityJointInterface</hardwareInterface>
      <mechanicalReduction>1</mechanicalReduction>
    </actuator>
  </transmission>
  <gazebo reference="r_elbow_joint">
    <implicitSpringDamper>0</implicitSpringDamper>
  </gazebo>
  <joint name="r_wrist_y_joint" type="revolute">
    <parent link="r_elbow_link"/>
    <child link="r_forearm_link"/>
    <origin rpy="0 -0 0 " xyz="-0.035 0 -0.070"/>
    <axis xyz="0 0 1"/>
    <!-- from -180 to 180 degrees-->
    <limit effort="100" lower="-1.5707" upper="1.5707" velocity="1.3"/>
    <dynamics damping="0.2" friction="0"/>
  </joint>
  <transmission name="r_wrist_y_joint_trans">
    <type>transmission_interface/SimpleTransmission</type>
    <joint name="r_wrist_y_joint">
      <!-- dupricated in kinetic -->
      <!--hardwareInterface>hardware_interface/EffortJointInterface</hardwareInterface-->
      <!--hardwareInterface>EffortJointInterface</hardwareInterface-->
      <hardwareInterface>VelocityJointInterface</hardwareInterface>
    </joint>
    <actuator name="r_wrist_y_joint_motor">
      <!-- dupricated in kinetic -->
      <!--hardwareInterface>hardware_interface/EffortJointInterface</hardwareInterface-->
      <!--hardwareInterface>EffortJointInterface</hardwareInterface-->
      <hardwareInterface>VelocityJointInterface</hardwareInterface>
      <mechanicalReduction>1</mechanicalReduction>
    </actuator>
  </transmission>
  <gazebo reference="r_wrist_y_joint">
    <implicitSpringDamper>0</implicitSpringDamper>
  </gazebo>
  <joint name="r_wrist_p_joint" type="revolute">
    <parent link="r_forearm_link"/>
    <child link="r_wrist_center"/>
    <origin rpy="0 -0 0 " xyz="0 0 -0.1955"/>
    <axis xyz="0 1 0"/>
    <!-- from -5 to 5 degrees-->
    <limit effort="100" lower="-0.087" upper="0.087" velocity="0.9"/>
    <dynamics damping="0.2" friction="0"/>
  </joint>
  <transmission name="r_wrist_p_joint_trans">
    <type>transmission_interface/SimpleTransmission</type>
    <joint name="r_wrist_p_joint">
      <!-- dupricated in kinetic -->
      <!--hardwareInterface>hardware_interface/EffortJointInterface</hardwareInterface-->
      <!--hardwareInterface>EffortJointInterface</hardwareInterface-->
      <hardwareInterface>VelocityJointInterface</hardwareInterface>
    </joint>
    <actuator name="r_wrist_p_joint_motor">
      <!-- dupricated in kinetic -->
      <!--hardwareInterface>hardware_interface/EffortJointInterface</hardwareInterface-->
      <!--hardwareInterface>EffortJointInterface</hardwareInterface-->
      <hardwareInterface>VelocityJointInterface</hardwareInterface>
      <mechanicalReduction>1</mechanicalReduction>
    </actuator>
  </transmission>
  <gazebo reference="r_wrist_p_joint">
    <implicitSpringDamper>0</implicitSpringDamper>
  </gazebo>
  <joint name="r_wrist_r_joint" type="revolute">
    <parent link="r_wrist_center"/>
    <child link="r_hand_link"/>
    <origin rpy="0 -0 0 " xyz="0 0 0"/>
    <axis xyz="1 0 0"/>
    <!-- from -25 to 85 degrees-->
    <limit effort="100" lower="-0.436" upper="1.484" velocity="2.1"/>
    <dynamics damping="0.2" friction="0"/>
  </joint>
  <transmission name="r_wrist_r_joint_trans">
    <type>transmission_interface/SimpleTransmission</type>
    <joint name="r_wrist_r_joint">
      <!-- dupricated in kinetic -->
      <!--hardwareInterface>hardware_interface/EffortJointInterface</hardwareInterface-->
      <!--hardwareInterface>EffortJointInterface</hardwareInterface-->
      <hardwareInterface>VelocityJointInterface</hardwareInterface>
    </joint>
    <actuator name="r_wrist_r_joint_motor">
      <!-- dupricated in kinetic -->
      <!--hardwareInterface>hardware_interface/EffortJointInterface</hardwareInterface-->
      <!--hardwareInterface>EffortJointInterface</hardwareInterface-->
      <hardwareInterface>VelocityJointInterface</hardwareInterface>
      <mechanicalReduction>1</mechanicalReduction>
    </actuator>
  </transmission>
  <gazebo reference="r_wrist_r_joint">
    <implicitSpringDamper>0</implicitSpringDamper>
  </gazebo>
  <!-- ============================   Hand(trx_s)   ============================ -->
  <!-- prefix is "r" or "l" -->
  <!-- reflect=1 is rightside, reflect=-1 is leftside -->
  <link name="r_hand_link">
    <visual>
      <origin rpy="0 -0 0.0" xyz="0 0 0"/>
      <geometry>
        <mesh filename="package://noid_description/meshes/trx_s/RARM_LINK7_mesh.dae" scale="1 1 1"/>
      </geometry>
    </visual>
    <collision>
      <origin rpy="0.7 0 0" xyz="0 0 -0.093"/>
      <geometry>
        <box size="0.036 0.070 0.030"/>
      </geometry>
    </collision>
    <collision>
      <origin rpy="-0.1 0 0" xyz="0 -0.007 -0.055"/>
      <geometry>
        <box size="0.036 0.050 0.070"/>
      </geometry>
    </collision>
    <inertial>
      <mass value="0.183"/>
      <origin rpy="0 -0 0" xyz="0 0 -0.0875"/>
      <inertia ixx="0.000601" ixy="0" ixz="0" iyy="0.00055" iyz="0" izz="0.000102"/>
    </inertial>
  </link>
  <gazebo reference="r_hand_link">
    <mu1>0.9</mu1>
    <mu2>0.9</mu2>
  </gazebo>
  <link name="r_indexbase_link">
    <visual>
      <origin rpy="0 -0 0.0" xyz="0 0.013 0.115"/>
      <geometry>
        <mesh filename="package://noid_description/meshes/trx_s/RARM_INDEX_LINK1_mesh.dae" scale="1 1 1"/>
      </geometry>
    </visual>
    <collision>
      <origin rpy="-0.85 0 0" xyz="0 0.013494 -0.021422"/>
      <geometry>
        <box size="0.041 0.061 0.016"/>
        <!-- 0.85 -->
      </geometry>
    </collision>
    <inertial>
      <mass value="0.1"/>
      <origin rpy="0 0 0" xyz="0 0.014 -0.021"/>
      <inertia ixx="0.001" ixy="0" ixz="0" iyy="0.0001" iyz="0" izz="0.0001"/>
    </inertial>
  </link>
  <gazebo reference="r_indexbase_link">
    <mu1>0.9</mu1>
    <mu2>0.9</mu2>
  </gazebo>
  <link name="r_indexmid_link">
    <visual>
      <origin rpy="0 -0 0.0" xyz="0 -0.015754 0.149615"/>
      <geometry>
        <mesh filename="package://noid_description/meshes/trx_s/RARM_INDEX_LINK2_mesh.dae" scale="1 1 1"/>
      </geometry>
    </visual>
    <collision>
      <origin rpy="-0.3 0 0" xyz="0 0.014 -0.008"/>
      <!-- 0.3 -->
      <geometry>
        <box size="0.034 0.030 0.016"/>
      </geometry>
    </collision>
    <inertial>
      <mass value="0.1"/>
      <origin rpy="0 0 0" xyz="0 0.014 -0.008"/>
      <inertia ixx="0.001" ixy="0" ixz="0" iyy="0.0001" iyz="0" izz="0.0001"/>
    </inertial>
  </link>
  <gazebo reference="r_indexmid_link">
    <mu1>0.9</mu1>
    <mu2>0.9</mu2>
  </gazebo>
  <link name="r_indexend_link">
    <visual>
      <origin rpy="0 -0 0.0" xyz="0 -0.03747 0.162972"/>
      <geometry>
        <mesh filename="package://noid_description/meshes/trx_s/RARM_INDEX_LINK3_mesh.dae" scale="1 1 1"/>
      </geometry>
    </visual>
    <collision>
      <origin rpy="0 0 0" xyz="0 0.013 0.004"/>
      <!-- 0.0 -->
      <geometry>
        <box size="0.040 0.028 0.016"/>
      </geometry>
    </collision>
    <inertial>
      <mass value="0.1"/>
      <origin rpy="0 0 0" xyz="0 0.02 0"/>
      <inertia ixx="0.0001" ixy="0" ixz="0" iyy="0.0001" iyz="0" izz="0.0001"/>
    </inertial>
  </link>
  <gazebo reference="r_indexend_link">
    <mu1>0.9</mu1>
    <mu2>0.9</mu2>
  </gazebo>
  <link name="r_thumb_link">
    <visual>
      <origin rpy="0 -0 0.0" xyz="0 -0.022355 0.079645"/>
      <geometry>
        <mesh filename="package://noid_description/meshes/trx_s/RARM_THUMB_LINK_mesh.dae" scale="1 1 1"/>
      </geometry>
    </visual>
    <collision>
      <origin rpy="0.63 0 0" xyz="0.0 0.019645 -0.010355"/>
      <geometry>
        <box size="0.012 0.008 0.050"/>
      </geometry>
    </collision>
    <collision>
      <origin rpy="0.1 0 0" xyz="0.0 0.035645 -0.050355"/>
      <geometry>
        <box size="0.012 0.008 0.050"/>
      </geometry>
    </collision>
    <inertial>
      <mass value="0.1"/>
      <origin rpy="0 0 0" xyz="0 0.05 -0.06"/>
      <inertia ixx="0.001" ixy="0" ixz="0" iyy="0.0001" iyz="0" izz="0.0001"/>
    </inertial>
  </link>
  <gazebo reference="r_thumb_link">
    <mu1>0.9</mu1>
    <mu2>0.9</mu2>
  </gazebo>
  <joint name="r_indexbase_joint" type="revolute">
    <parent link="r_hand_link"/>
    <child link="r_indexbase_link"/>
    <origin rpy="0 -0 0 " xyz="0 -0.013 -0.115"/>
    <axis xyz="1 0 0"/>
    <limit effort="100" lower="-3.14159" upper="3.14159" velocity="0.5"/>
    <dynamics damping="0.2" friction="0"/>
  </joint>
  <transmission name="r_indexbase_joint_trans">
    <type>transmission_interface/SimpleTransmission</type>
    <joint name="r_indexbase_joint">
      <!-- dupricated in kinetic -->
      <!--hardwareInterface>hardware_interface/EffortJointInterface</hardwareInterface-->
      <!--hardwareInterface>EffortJointInterface</hardwareInterface-->
      <hardwareInterface>VelocityJointInterface</hardwareInterface>
    </joint>
    <actuator name="r_indexbase_joint_motor">
      <!-- dupricated in kinetic -->
      <!--hardwareInterface>hardware_interface/EffortJointInterface</hardwareInterface-->
      <!--hardwareInterface>EffortJointInterface</hardwareInterface-->
      <hardwareInterface>VelocityJointInterface</hardwareInterface>
      <mechanicalReduction>1</mechanicalReduction>
    </actuator>
  </transmission>
  <gazebo reference="r_indexbase_joint">
    <implicitSpringDamper>0</implicitSpringDamper>
  </gazebo>
  <joint name="r_indexmid_joint" type="revolute">
    <parent link="r_indexbase_link"/>
    <child link="r_indexmid_link"/>
    <origin rpy="0 -0 0 " xyz="0 0.028754 -0.034615"/>
    <axis xyz="1 0 0"/>
    <limit effort="100" lower="-3.14159" upper="3.14159" velocity="0.5"/>
    <dynamics damping="0.2" friction="0"/>
  </joint>
  <transmission name="r_indexmid_joint_trans">
    <type>transmission_interface/SimpleTransmission</type>
    <joint name="r_indexmid_joint">
      <!-- dupricated in kinetic -->
      <!--hardwareInterface>hardware_interface/EffortJointInterface</hardwareInterface-->
      <!--hardwareInterface>EffortJointInterface</hardwareInterface-->
      <hardwareInterface>VelocityJointInterface</hardwareInterface>
    </joint>
    <actuator name="r_indexmid_joint_motor">
      <!-- dupricated in kinetic -->
      <!--hardwareInterface>hardware_interface/EffortJointInterface</hardwareInterface-->
      <!--hardwareInterface>EffortJointInterface</hardwareInterface-->
      <hardwareInterface>VelocityJointInterface</hardwareInterface>
      <mechanicalReduction>1</mechanicalReduction>
    </actuator>
  </transmission>
  <gazebo reference="r_indexmid_joint">
    <implicitSpringDamper>0</implicitSpringDamper>
  </gazebo>
  <joint name="r_indexend_joint" type="revolute">
    <parent link="r_indexmid_link"/>
    <child link="r_indexend_link"/>
    <origin rpy="0 -0 0 " xyz="0 0.021716 -0.013357"/>
    <axis xyz="1 0 0"/>
    <limit effort="100" lower="-3.14159" upper="3.14159" velocity="0.5"/>
    <dynamics damping="0.2" friction="0"/>
  </joint>
  <transmission name="r_indexend_joint_trans">
    <type>transmission_interface/SimpleTransmission</type>
    <joint name="r_indexend_joint">
      <!-- dupricated in kinetic -->
      <!--hardwareInterface>hardware_interface/EffortJointInterface</hardwareInterface-->
      <!--hardwareInterface>EffortJointInterface</hardwareInterface-->
      <hardwareInterface>VelocityJointInterface</hardwareInterface>
    </joint>
    <actuator name="r_indexend_joint_motor">
      <!-- dupricated in kinetic -->
      <!--hardwareInterface>hardware_interface/EffortJointInterface</hardwareInterface-->
      <!--hardwareInterface>EffortJointInterface</hardwareInterface-->
      <hardwareInterface>VelocityJointInterface</hardwareInterface>
      <mechanicalReduction>1</mechanicalReduction>
    </actuator>
  </transmission>
  <gazebo reference="r_indexend_joint">
    <implicitSpringDamper>0</implicitSpringDamper>
  </gazebo>
  <joint name="r_thumb_joint" type="revolute">
    <parent link="r_hand_link"/>
    <child link="r_thumb_link"/>
    <origin rpy="0 -0 0 " xyz="0 0.022355 -0.079645"/>
    <axis xyz="1 0 0"/>
    <limit effort="100" lower="-3.14159" upper="3.14159" velocity="0.5"/>
    <dynamics damping="0.2" friction="0"/>
  </joint>
  <transmission name="r_thumb_joint_trans">
    <type>transmission_interface/SimpleTransmission</type>
    <joint name="r_thumb_joint">
      <!-- dupricated in kinetic -->
      <!--hardwareInterface>hardware_interface/EffortJointInterface</hardwareInterface-->
      <!--hardwareInterface>EffortJointInterface</hardwareInterface-->
      <hardwareInterface>VelocityJointInterface</hardwareInterface>
    </joint>
    <actuator name="r_thumb_joint_motor">
      <!-- dupricated in kinetic -->
      <!--hardwareInterface>hardware_interface/EffortJointInterface</hardwareInterface-->
      <!--hardwareInterface>EffortJointInterface</hardwareInterface-->
      <hardwareInterface>VelocityJointInterface</hardwareInterface>
      <mechanicalReduction>1</mechanicalReduction>
    </actuator>
  </transmission>
  <gazebo reference="r_thumb_joint">
    <implicitSpringDamper>0</implicitSpringDamper>
  </gazebo>
  <!-- for ik eef link-->
  <link name="r_eef_grasp_link"/>
  <link name="r_eef_pick_link"/>
  <link name="r_thumb_tip_link"/>
  <link name="r_index_tip_link"/>
  <!-- for ik eef link-->
  <!-- for ik eef connector-->
  <joint name="r_eef_grasp_joint" type="fixed">
    <parent link="r_hand_link"/>
    <child link="r_eef_grasp_link"/>
    <origin rpy="0 1.5708 0 " xyz="0.0 0.04 -0.14"/>
  </joint>
  <joint name="r_eef_pick_joint" type="fixed">
    <parent link="r_hand_link"/>
    <child link="r_eef_pick_link"/>
    <origin rpy="0 1.5708 0 " xyz="0.0 0.07 -0.16"/>
  </joint>
  <joint name="r_thumb_tip_joint" type="fixed">
    <parent link="r_thumb_link"/>
    <child link="r_thumb_tip_link"/>
    <origin rpy="0 0 0 " xyz="0.0 0.035 -0.085"/>
  </joint>
  <joint name="r_index_tip_joint" type="fixed">
    <parent link="r_indexend_link"/>
    <child link="r_index_tip_link"/>
    <origin rpy="0 0 0 " xyz="0.0 0.02 0.0"/>
  </joint>
  <!-- for ik eef connector-->
  <!-- ============================   Hand(trx_s)   ============================ -->
  <!-- prefix is "r" or "l" -->
  <!-- reflect=1 is rightside, reflect=-1 is leftside -->
  <link name="l_hand_link">
    <visual>
      <origin rpy="0 -0 3.14159265359" xyz="0 0 0"/>
      <geometry>
        <mesh filename="package://noid_description/meshes/trx_s/RARM_LINK7_mesh.dae" scale="1 1 1"/>
      </geometry>
    </visual>
    <collision>
      <origin rpy="-0.7 0 0" xyz="0 0 -0.093"/>
      <geometry>
        <box size="0.036 0.070 0.030"/>
      </geometry>
    </collision>
    <collision>
      <origin rpy="0.1 0 0" xyz="0 0.007 -0.055"/>
      <geometry>
        <box size="0.036 0.050 0.070"/>
      </geometry>
    </collision>
    <inertial>
      <mass value="0.183"/>
      <origin rpy="0 -0 0" xyz="0 0 -0.0875"/>
      <inertia ixx="0.000601" ixy="0" ixz="0" iyy="0.00055" iyz="0" izz="0.000102"/>
    </inertial>
  </link>
  <gazebo reference="l_hand_link">
    <mu1>0.9</mu1>
    <mu2>0.9</mu2>
  </gazebo>
  <link name="l_indexbase_link">
    <visual>
      <origin rpy="0 -0 3.14159265359" xyz="0 -0.013 0.115"/>
      <geometry>
        <mesh filename="package://noid_description/meshes/trx_s/RARM_INDEX_LINK1_mesh.dae" scale="1 1 1"/>
      </geometry>
    </visual>
    <collision>
      <origin rpy="0.85 0 0" xyz="0 -0.013494 -0.021422"/>
      <geometry>
        <box size="0.041 0.061 0.016"/>
        <!-- 0.85 -->
      </geometry>
    </collision>
    <inertial>
      <mass value="0.1"/>
      <origin rpy="0 0 0" xyz="0 -0.014 -0.021"/>
      <inertia ixx="0.001" ixy="0" ixz="0" iyy="0.0001" iyz="0" izz="0.0001"/>
    </inertial>
  </link>
  <gazebo reference="l_indexbase_link">
    <mu1>0.9</mu1>
    <mu2>0.9</mu2>
  </gazebo>
  <link name="l_indexmid_link">
    <visual>
      <origin rpy="0 -0 3.14159265359" xyz="0 0.015754 0.149615"/>
      <geometry>
        <mesh filename="package://noid_description/meshes/trx_s/RARM_INDEX_LINK2_mesh.dae" scale="1 1 1"/>
      </geometry>
    </visual>
    <collision>
      <origin rpy="0.3 0 0" xyz="0 -0.014 -0.008"/>
      <!-- 0.3 -->
      <geometry>
        <box size="0.034 0.030 0.016"/>
      </geometry>
    </collision>
    <inertial>
      <mass value="0.1"/>
      <origin rpy="0 0 0" xyz="0 -0.014 -0.008"/>
      <inertia ixx="0.001" ixy="0" ixz="0" iyy="0.0001" iyz="0" izz="0.0001"/>
    </inertial>
  </link>
  <gazebo reference="l_indexmid_link">
    <mu1>0.9</mu1>
    <mu2>0.9</mu2>
  </gazebo>
  <link name="l_indexend_link">
    <visual>
      <origin rpy="0 -0 3.14159265359" xyz="0 0.03747 0.162972"/>
      <geometry>
        <mesh filename="package://noid_description/meshes/trx_s/RARM_INDEX_LINK3_mesh.dae" scale="1 1 1"/>
      </geometry>
    </visual>
    <collision>
      <origin rpy="0 0 0" xyz="0 -0.013 0.004"/>
      <!-- 0.0 -->
      <geometry>
        <box size="0.040 0.028 0.016"/>
      </geometry>
    </collision>
    <inertial>
      <mass value="0.1"/>
      <origin rpy="0 0 0" xyz="0 -0.02 0"/>
      <inertia ixx="0.0001" ixy="0" ixz="0" iyy="0.0001" iyz="0" izz="0.0001"/>
    </inertial>
  </link>
  <gazebo reference="l_indexend_link">
    <mu1>0.9</mu1>
    <mu2>0.9</mu2>
  </gazebo>
  <link name="l_thumb_link">
    <visual>
      <origin rpy="0 -0 3.14159265359" xyz="0 0.022355 0.079645"/>
      <geometry>
        <mesh filename="package://noid_description/meshes/trx_s/RARM_THUMB_LINK_mesh.dae" scale="1 1 1"/>
      </geometry>
    </visual>
    <collision>
      <origin rpy="-0.63 0 0" xyz="0.0 -0.019645 -0.010355"/>
      <geometry>
        <box size="0.012 0.008 0.050"/>
      </geometry>
    </collision>
    <collision>
      <origin rpy="-0.1 0 0" xyz="0.0 -0.035645 -0.050355"/>
      <geometry>
        <box size="0.012 0.008 0.050"/>
      </geometry>
    </collision>
    <inertial>
      <mass value="0.1"/>
      <origin rpy="0 0 0" xyz="0 -0.05 -0.06"/>
      <inertia ixx="0.001" ixy="0" ixz="0" iyy="0.0001" iyz="0" izz="0.0001"/>
    </inertial>
  </link>
  <gazebo reference="l_thumb_link">
    <mu1>0.9</mu1>
    <mu2>0.9</mu2>
  </gazebo>
  <joint name="l_indexbase_joint" type="revolute">
    <parent link="l_hand_link"/>
    <child link="l_indexbase_link"/>
    <origin rpy="0 -0 0 " xyz="0 0.013 -0.115"/>
    <axis xyz="1 0 0"/>
    <limit effort="100" lower="-3.14159" upper="3.14159" velocity="0.5"/>
    <dynamics damping="0.2" friction="0"/>
  </joint>
  <transmission name="l_indexbase_joint_trans">
    <type>transmission_interface/SimpleTransmission</type>
    <joint name="l_indexbase_joint">
      <!-- dupricated in kinetic -->
      <!--hardwareInterface>hardware_interface/EffortJointInterface</hardwareInterface-->
      <!--hardwareInterface>EffortJointInterface</hardwareInterface-->
      <hardwareInterface>VelocityJointInterface</hardwareInterface>
    </joint>
    <actuator name="l_indexbase_joint_motor">
      <!-- dupricated in kinetic -->
      <!--hardwareInterface>hardware_interface/EffortJointInterface</hardwareInterface-->
      <!--hardwareInterface>EffortJointInterface</hardwareInterface-->
      <hardwareInterface>VelocityJointInterface</hardwareInterface>
      <mechanicalReduction>1</mechanicalReduction>
    </actuator>
  </transmission>
  <gazebo reference="l_indexbase_joint">
    <implicitSpringDamper>0</implicitSpringDamper>
  </gazebo>
  <joint name="l_indexmid_joint" type="revolute">
    <parent link="l_indexbase_link"/>
    <child link="l_indexmid_link"/>
    <origin rpy="0 -0 0 " xyz="0 -0.028754 -0.034615"/>
    <axis xyz="1 0 0"/>
    <limit effort="100" lower="-3.14159" upper="3.14159" velocity="0.5"/>
    <dynamics damping="0.2" friction="0"/>
  </joint>
  <transmission name="l_indexmid_joint_trans">
    <type>transmission_interface/SimpleTransmission</type>
    <joint name="l_indexmid_joint">
      <!-- dupricated in kinetic -->
      <!--hardwareInterface>hardware_interface/EffortJointInterface</hardwareInterface-->
      <!--hardwareInterface>EffortJointInterface</hardwareInterface-->
      <hardwareInterface>VelocityJointInterface</hardwareInterface>
    </joint>
    <actuator name="l_indexmid_joint_motor">
      <!-- dupricated in kinetic -->
      <!--hardwareInterface>hardware_interface/EffortJointInterface</hardwareInterface-->
      <!--hardwareInterface>EffortJointInterface</hardwareInterface-->
      <hardwareInterface>VelocityJointInterface</hardwareInterface>
      <mechanicalReduction>1</mechanicalReduction>
    </actuator>
  </transmission>
  <gazebo reference="l_indexmid_joint">
    <implicitSpringDamper>0</implicitSpringDamper>
  </gazebo>
  <joint name="l_indexend_joint" type="revolute">
    <parent link="l_indexmid_link"/>
    <child link="l_indexend_link"/>
    <origin rpy="0 -0 0 " xyz="0 -0.021716 -0.013357"/>
    <axis xyz="1 0 0"/>
    <limit effort="100" lower="-3.14159" upper="3.14159" velocity="0.5"/>
    <dynamics damping="0.2" friction="0"/>
  </joint>
  <transmission name="l_indexend_joint_trans">
    <type>transmission_interface/SimpleTransmission</type>
    <joint name="l_indexend_joint">
      <!-- dupricated in kinetic -->
      <!--hardwareInterface>hardware_interface/EffortJointInterface</hardwareInterface-->
      <!--hardwareInterface>EffortJointInterface</hardwareInterface-->
      <hardwareInterface>VelocityJointInterface</hardwareInterface>
    </joint>
    <actuator name="l_indexend_joint_motor">
      <!-- dupricated in kinetic -->
      <!--hardwareInterface>hardware_interface/EffortJointInterface</hardwareInterface-->
      <!--hardwareInterface>EffortJointInterface</hardwareInterface-->
      <hardwareInterface>VelocityJointInterface</hardwareInterface>
      <mechanicalReduction>1</mechanicalReduction>
    </actuator>
  </transmission>
  <gazebo reference="l_indexend_joint">
    <implicitSpringDamper>0</implicitSpringDamper>
  </gazebo>
  <joint name="l_thumb_joint" type="revolute">
    <parent link="l_hand_link"/>
    <child link="l_thumb_link"/>
    <origin rpy="0 -0 0 " xyz="0 -0.022355 -0.079645"/>
    <axis xyz="1 0 0"/>
    <limit effort="100" lower="-3.14159" upper="3.14159" velocity="0.5"/>
    <dynamics damping="0.2" friction="0"/>
  </joint>
  <transmission name="l_thumb_joint_trans">
    <type>transmission_interface/SimpleTransmission</type>
    <joint name="l_thumb_joint">
      <!-- dupricated in kinetic -->
      <!--hardwareInterface>hardware_interface/EffortJointInterface</hardwareInterface-->
      <!--hardwareInterface>EffortJointInterface</hardwareInterface-->
      <hardwareInterface>VelocityJointInterface</hardwareInterface>
    </joint>
    <actuator name="l_thumb_joint_motor">
      <!-- dupricated in kinetic -->
      <!--hardwareInterface>hardware_interface/EffortJointInterface</hardwareInterface-->
      <!--hardwareInterface>EffortJointInterface</hardwareInterface-->
      <hardwareInterface>VelocityJointInterface</hardwareInterface>
      <mechanicalReduction>1</mechanicalReduction>
    </actuator>
  </transmission>
  <gazebo reference="l_thumb_joint">
    <implicitSpringDamper>0</implicitSpringDamper>
  </gazebo>
  <!-- for ik eef link-->
  <link name="l_eef_grasp_link"/>
  <link name="l_eef_pick_link"/>
  <link name="l_thumb_tip_link"/>
  <link name="l_index_tip_link"/>
  <!-- for ik eef link-->
  <!-- for ik eef connector-->
  <joint name="l_eef_grasp_joint" type="fixed">
    <parent link="l_hand_link"/>
    <child link="l_eef_grasp_link"/>
    <origin rpy="0 1.5708 0 " xyz="0.0 -0.04 -0.14"/>
  </joint>
  <joint name="l_eef_pick_joint" type="fixed">
    <parent link="l_hand_link"/>
    <child link="l_eef_pick_link"/>
    <origin rpy="0 1.5708 0 " xyz="0.0 -0.07 -0.16"/>
  </joint>
  <joint name="l_thumb_tip_joint" type="fixed">
    <parent link="l_thumb_link"/>
    <child link="l_thumb_tip_link"/>
    <origin rpy="0 0 0 " xyz="0.0 -0.035 -0.085"/>
  </joint>
  <joint name="l_index_tip_joint" type="fixed">
    <parent link="l_indexend_link"/>
    <child link="l_index_tip_link"/>
    <origin rpy="0 0 0 " xyz="0.0 -0.02 0.0"/>
  </joint>
  <!-- for ik eef connector-->
  <joint name="upper_lower_connector" type="fixed">
    <parent link="lifter_top_link"/>
    <child link="waist_link"/>
    <origin rpy="0 0 0 " xyz="0.0 0.0 0.0"/>
  </joint>
  <!-- ============================   typeE_wheels  ============================ -->
  <link name="base_link"/>
  <link name="wheel_base_link">
    <visual>
      <origin rpy="0 -0 0" xyz="0.0 0.0 0.0"/>
      <geometry>
        <mesh filename="package://noid_description/meshes/typeE_wheel/wheels_base.dae" scale="1 1 1"/>
      </geometry>
    </visual>
    <collision>
      <!--origin xyz="0.0 0.0 0.0" rpy="0 -0 0"/>
        <geometry>
          <mesh filename="package://noid_description/meshes/typeE_wheel/wheels_base.dae" scale="1 1 1" />
        </geometry-->
      <origin rpy="0 -0 0" xyz="0.018 0.0 0.0375"/>
      <geometry>
        <box size="0.72 0.52 0.149"/>
      </geometry>
    </collision>
    <inertial>
      <mass value="70"/>
      <origin rpy="0 -0 0.0" xyz="0 0 0.04"/>
      <inertia ixx="0.528" ixy="0" ixz="0" iyy="2.02" iyz="0" izz="2.35"/>
    </inertial>
  </link>
  <gazebo reference="wheel_base_link">
    <mu1>0.9</mu1>
    <mu2>0.9</mu2>
  </gazebo>
  <link name="wheels_top_link">
    <visual>
      <origin rpy="0 -0 0" xyz="0.0 0.0 0.0"/>
      <geometry>
        <mesh filename="package://noid_description/meshes/typeE_wheel/wheels_top.dae" scale="1 1 1"/>
      </geometry>
    </visual>
    <!-- no collision geometry -->
    <inertial>
      <mass value="1"/>
      <origin rpy="0 -0 0" xyz="0 0 0"/>
      <inertia ixx="0.528" ixy="0" ixz="0" iyy="2.02" iyz="0" izz="2.35"/>
    </inertial>
  </link>
  <gazebo reference="wheels_top_link">
    <mu1>0.9</mu1>
    <mu2>0.9</mu2>
  </gazebo>
  <link name="wheels_front_left_mecanum">
    <visual>
      <origin rpy="-1.57079632679 0 0" xyz="0.0 0.0 0.0"/>
      <geometry>
        <mesh filename="package://noid_description/meshes/typeE_wheel/wheels_mecanum.dae" scale="1 1 1"/>
      </geometry>
    </visual>
    <collision>
      <origin rpy="-1.57079632679 0 0" xyz="0.0 0.0 0.0"/>
      <geometry>
        <!--cylinder length="0.046" radius="0.076" /-->
        <box size="0.152 0.152 0.046"/>
      </geometry>
    </collision>
    <inertial>
      <mass value="1"/>
      <origin rpy="0 -0 0" xyz="0 0 0"/>
      <inertia ixx="0.528" ixy="0" ixz="0" iyy="2.02" iyz="0" izz="2.35"/>
    </inertial>
  </link>
  <gazebo reference="wheels_front_left_mecanum">
    <mu1>0.25</mu1>
    <mu2>0.25</mu2>
  </gazebo>
  <link name="wheels_front_right_mecanum">
    <visual>
      <origin rpy="-1.57079632679 0 0" xyz="0.0 0.0 0.0"/>
      <geometry>
        <mesh filename="package://noid_description/meshes/typeE_wheel/wheels_mecanum.dae" scale="1 1 1"/>
      </geometry>
    </visual>
    <collision>
      <origin rpy="-1.57079632679 0 0" xyz="0.0 0.0 0.0"/>
      <geometry>
        <!--cylinder length="0.046" radius="0.076" /-->
        <box size="0.152 0.152 0.046"/>
      </geometry>
    </collision>
    <inertial>
      <mass value="1"/>
      <origin rpy="0 -0 0" xyz="0 0 0"/>
      <inertia ixx="0.528" ixy="0" ixz="0" iyy="2.02" iyz="0" izz="2.35"/>
    </inertial>
  </link>
  <gazebo reference="wheels_front_left_mecanum">
    <mu1>0.25</mu1>
    <mu2>0.25</mu2>
  </gazebo>
  <link name="wheels_rear_left_mecanum">
    <visual>
      <origin rpy="-1.57079632679 0 0" xyz="0.0 0.0 0.0"/>
      <geometry>
        <mesh filename="package://noid_description/meshes/typeE_wheel/wheels_mecanum.dae" scale="1 1 1"/>
      </geometry>
    </visual>
    <collision>
      <origin rpy="-1.57079632679 0 0" xyz="0.0 0.0 0.0"/>
      <geometry>
        <!--cylinder length="0.046" radius="0.076" /-->
        <box size="0.152 0.152 0.046"/>
      </geometry>
    </collision>
    <inertial>
      <mass value="1"/>
      <origin rpy="0 -0 0" xyz="0 0 0"/>
      <inertia ixx="0.528" ixy="0" ixz="0" iyy="2.02" iyz="0" izz="2.35"/>
    </inertial>
  </link>
  <gazebo reference="wheels_rear_left_mecanum">
    <mu1>0.25</mu1>
    <mu2>0.25</mu2>
  </gazebo>
  <link name="wheels_rear_right_mecanum">
    <visual>
      <origin rpy="-1.57079632679 0 0" xyz="0.0 0.0 0.0"/>
      <geometry>
        <mesh filename="package://noid_description/meshes/typeE_wheel/wheels_mecanum.dae" scale="1 1 1"/>
      </geometry>
    </visual>
    <collision>
      <origin rpy="-1.57079632679 0 0" xyz="0.0 0.0 0.0"/>
      <geometry>
        <!--cylinder length="0.046" radius="0.076" /-->
        <box size="0.152 0.152 0.046"/>
      </geometry>
    </collision>
    <inertial>
      <mass value="1"/>
      <origin rpy="0 -0 0" xyz="0 0 0"/>
      <inertia ixx="0.528" ixy="0" ixz="0" iyy="2.02" iyz="0" izz="2.35"/>
    </inertial>
  </link>
  <gazebo reference="wheels_rear_right_mecanum">
    <mu1>0.25</mu1>
    <mu2>0.25</mu2>
  </gazebo>
  <link name="wheels_base_laser_link">
    <visual>
      <origin rpy="0 0 0" xyz="0.0 0.0 0.0"/>
      <geometry>
        <mesh filename="package://noid_description/meshes/typeE_wheel/wheels_urg.dae" scale="1 1 1"/>
      </geometry>
    </visual>
    <collision>
      <origin rpy="0 -0 0" xyz="0.0 0.0 -0.0124"/>
      <geometry>
        <box size="0.08 0.1 0.07"/>
      </geometry>
    </collision>
    <inertial>
      <mass value="0.2"/>
      <origin rpy="0 -0 0" xyz="0 0 0"/>
      <inertia ixx="0.0528" ixy="0" ixz="0" iyy="0.0202" iyz="0" izz="0.0235"/>
    </inertial>
  </link>
  <gazebo reference="wheels_base_laser_link">
    <mu1>0.9</mu1>
    <mu2>0.9</mu2>
  </gazebo>
  <joint name="base_link_to_wheel_base_link_connector" type="fixed">
    <parent link="base_link"/>
    <child link="wheel_base_link"/>
    <origin rpy="0 0 0" xyz="0.0 0.0 0.075"/>
  </joint>
  <joint name="wheels_body_to_top_connector" type="fixed">
    <parent link="wheel_base_link"/>
    <child link="wheels_top_link"/>
    <origin rpy="0 0 0 " xyz="0.0 0.0 0.115"/>
  </joint>
  <joint name="wheels_body_to_front_left_mecanum_connector" type="fixed">
    <parent link="wheel_base_link"/>
    <child link="wheels_front_left_mecanum"/>
    <origin rpy="0 0 0" xyz="0.2265 0.19485 0"/>
  </joint>
  <joint name="wheels_body_to_front_right_mecanum_connector" type="fixed">
    <parent link="wheel_base_link"/>
    <child link="wheels_front_right_mecanum"/>
    <origin rpy="0 0 0" xyz="0.2265 -0.19485 0"/>
  </joint>
  <joint name="wheels_body_to_rear_left_mecanum_connector" type="fixed">
    <parent link="wheel_base_link"/>
    <child link="wheels_rear_left_mecanum"/>
    <origin rpy="0 0 0" xyz="-0.2265 0.19485 0"/>
  </joint>
  <joint name="wheels_body_to_rear_right_mecanum_connector" type="fixed">
    <parent link="wheel_base_link"/>
    <child link="wheels_rear_right_mecanum"/>
    <origin rpy="0 0 0" xyz="-0.2265 -0.19485 0"/>
  </joint>
  <joint name="wheels_body_to_base_laser_connector" type="fixed">
    <parent link="wheel_base_link"/>
    <child link="wheels_base_laser_link"/>
    <origin rpy="0 0 0" xyz="0.29 0 0.1324"/>
  </joint>
  <joint name="wheel_lifter_connector" type="fixed">
    <parent link="wheels_top_link"/>
    <child link="lifter_base_link"/>
    <origin rpy="0 0 0 " xyz="0.0 0.0 0.005"/>
  </joint>
  <!-- ============================   (typeC_lifter)   ============================ -->
  <link name="lifter_base_link">
    <visual>
      <origin rpy="0 -0 0" xyz="0 0 0"/>
      <geometry>
        <mesh filename="package://noid_description/meshes/typeC_lifter/lifter_base.dae" scale="1 1 1"/>
      </geometry>
    </visual>
    <collision>
      <origin rpy="0 -0 0" xyz="0 0 0"/>
      <geometry>
        <mesh filename="package://noid_description/meshes/typeC_lifter/lifter_base.dae" scale="1 1 1"/>
      </geometry>
    </collision>
    <inertial>
      <mass value="7.64604"/>
      <origin rpy="0 -0 0" xyz="-0.012819 -0.002679 0.007207"/>
      <inertia ixx="0.0658136" ixy="-0.000159462" ixz="0.010103" iyy="0.0504268" iyz="0.000173435" izz="0.0889772"/>
    </inertial>
  </link>
  <gazebo reference="lifter_base_link">
    <mu1>0.9</mu1>
    <mu2>0.9</mu2>
  </gazebo>
  <link name="leg_shank_link">
    <visual>
      <origin rpy="3.1415 -0 0" xyz="0.0 0.0 0"/>
      <geometry>
        <mesh filename="package://noid_description/meshes/typeC_lifter/lifter_bone.dae" scale="1 1 1"/>
      </geometry>
    </visual>
    <collision>
      <origin rpy="3.1415 -0 0" xyz="0.0 0.0 0"/>
      <geometry>
        <mesh filename="package://noid_description/meshes/typeC_lifter/lifter_bone.dae" scale="1 1 1"/>
      </geometry>
    </collision>
    <inertial>
      <mass value="2.06679"/>
      <!--origin xyz="0.081713 0.000812 -0.146934" rpy="0 -0 0"/-->
      <origin rpy="0 -0 0" xyz="0.051713 0.0 0.146934"/>
      <!--inertia ixx="0.0408818" ixy="-9.39301e-06" ixz="-0.000750165" iyy="0.0403969" iyz="-0.000120419" izz="0.00260982"/-->
      <inertia ixx="0.06" ixy="0.0" ixz="0.0" iyy="0.1" iyz="0.0" izz="0.06"/>
    </inertial>
  </link>
  <gazebo reference="leg_shank_link">
    <mu1>0.9</mu1>
    <mu2>0.9</mu2>
  </gazebo>
  <link name="leg_knee_link">
    <visual>
      <origin rpy="3.1415 -0 0" xyz="0.0 0.0 0"/>
      <geometry>
        <mesh filename="package://noid_description/meshes/typeC_lifter/lifter_knee.dae" scale="1 1 1"/>
      </geometry>
    </visual>
    <collision>
      <origin rpy="3.1415 -0 0" xyz="0.0 0.0 0"/>
      <geometry>
        <mesh filename="package://noid_description/meshes/typeC_lifter/lifter_knee.dae" scale="1 1 1"/>
      </geometry>
    </collision>
    <inertial>
      <mass value="2.06679"/>
      <!--origin xyz="0.081713 0.000812 -0.146934" rpy="0 -0 0"/-->
      <origin rpy="0 -0 0" xyz="-0.031713 0.0 0.046934"/>
      <!--inertia ixx="0.0408818" ixy="-9.39301e-06" ixz="-0.000750165" iyy="0.0403969" iyz="-0.000120419" izz="0.00260982"/-->
      <inertia ixx="0.06" ixy="0.0" ixz="0.0" iyy="0.1" iyz="0.0" izz="0.06"/>
    </inertial>
  </link>
  <gazebo reference="leg_knee_link">
    <mu1>0.9</mu1>
    <mu2>0.9</mu2>
  </gazebo>
  <link name="leg_thigh_link">
    <visual>
      <origin rpy="0 0 0" xyz="0 0 0.25"/>
      <geometry>
        <mesh filename="package://noid_description/meshes/typeC_lifter/lifter_bone.dae" scale="1 1 1"/>
      </geometry>
    </visual>
    <collision>
      <origin rpy="0 0 0" xyz="0 0 0.25"/>
      <geometry>
        <mesh filename="package://noid_description/meshes/typeC_lifter/lifter_bone.dae" scale="1 1 1"/>
      </geometry>
    </collision>
    <inertial>
      <mass value="2.62321"/>
      <!--origin xyz="0.0587169 0 -0.135292" rpy="0 -0 0"/-->
      <origin rpy="0 -0 0" xyz="-0.0587169 0 0.135292"/>
      <inertia ixx="0.0161595" ixy="-9.27234e-05" ixz="0.00262839" iyy="0.0166415" iyz="-0.00017447" izz="0.00477281"/>
    </inertial>
  </link>
  <gazebo reference="leg_thigh_link">
    <mu1>0.9</mu1>
    <mu2>0.9</mu2>
  </gazebo>
  <link name="leg_base_link">
    <visual>
      <origin rpy="3.1415920 0 0" xyz="0 0 0.05"/>
      <geometry>
        <mesh filename="package://noid_description/meshes/typeC_lifter/lifter_base.dae" scale="1 1 1"/>
      </geometry>
    </visual>
    <collision>
      <origin rpy="3.1415920 0 0" xyz="0 0 0.05"/>
      <geometry>
        <mesh filename="package://noid_description/meshes/typeC_lifter/lifter_base.dae" scale="1 1 1"/>
      </geometry>
    </collision>
    <inertial>
      <mass value="7.64604"/>
      <origin rpy="0 -0 0" xyz="-0.012819 -0.002679 0.007207"/>
      <inertia ixx="0.0658136" ixy="-0.000159462" ixz="0.010103" iyy="0.0504268" iyz="0.000173435" izz="0.0889772"/>
    </inertial>
  </link>
  <gazebo reference="leg_base_link">
    <mu1>0.9</mu1>
    <mu2>0.9</mu2>
  </gazebo>
  <link name="lifter_top_link">
    <visual>
      <origin rpy="0 -0 0" xyz="0 0 0"/>
      <geometry>
        <mesh filename="package://noid_description/meshes/typeC_lifter/lifter_top.dae" scale="1 1 1"/>
      </geometry>
    </visual>
    <collision>
      <origin rpy="0 -0 0" xyz="0 0 0"/>
      <geometry>
        <mesh filename="package://noid_description/meshes/typeC_lifter/lifter_top.dae" scale="1 1 1"/>
      </geometry>
    </collision>
    <inertial>
      <mass value="1.0"/>
      <origin rpy="0 0 0" xyz="0.0 0.0 0.0"/>
      <inertia ixx="0.03" ixy="0.0" ixz="0.0" iyy="0.03" iyz="0.0" izz="0.04"/>
    </inertial>
  </link>
  <gazebo reference="lifter_top_link">
    <mu1>0.9</mu1>
    <mu2>0.9</mu2>
  </gazebo>
  <joint name="lifter_top_connector" type="fixed">
    <parent link="leg_base_link"/>
    <child link="lifter_top_link"/>
    <origin rpy="0 0 0" xyz="0 0 0.055"/>
  </joint>
  <joint name="knee_joint_mimic" type="revolute">
    <parent link="leg_thigh_link"/>
    <child link="leg_base_link"/>
    <origin rpy="0 0 0" xyz="0 0 0.25"/>
    <axis xyz="0 -1 0"/>
    <mimic joint="knee_joint" multiplier="-1" offset="0"/>
    <limit effort="10000" lower="0" upper="1.5707" velocity="0.5"/>
    <!-- just invert of knee_joint -->
  </joint>
  <joint name="knee_joint" type="revolute">
    <!-- rename "knee_joint_thigh_dummy" -->
    <parent link="leg_knee_link"/>
    <child link="leg_thigh_link"/>
    <origin rpy="0 0 0" xyz="0 0 0.12"/>
    <axis xyz="0 -1 0"/>
    <limit effort="10000" lower="-1.5707" upper="0" velocity="0.5"/>
  </joint>
  <transmission name="knee_joint_trans">
    <type>transmission_interface/SimpleTransmission</type>
    <joint name="knee_joint">
      <!-- dupricated in kinetic -->
      <!--hardwareInterface>hardware_interface/EffortJointInterface</hardwareInterface-->
      <!--hardwareInterface>EffortJointInterface</hardwareInterface-->
      <hardwareInterface>VelocityJointInterface</hardwareInterface>
    </joint>
    <actuator name="knee_joint_motor">
      <!-- dupricated in kinetic -->
      <!--hardwareInterface>hardware_interface/EffortJointInterface</hardwareInterface-->
      <!--hardwareInterface>EffortJointInterface</hardwareInterface-->
      <hardwareInterface>VelocityJointInterface</hardwareInterface>
      <mechanicalReduction>1</mechanicalReduction>
    </actuator>
  </transmission>
  <gazebo reference="knee_joint">
    <implicitSpringDamper>0</implicitSpringDamper>
  </gazebo>
  <joint name="ankle_joint" type="revolute">
    <parent link="lifter_base_link"/>
    <child link="leg_shank_link"/>
    <origin rpy="0 0 0" xyz="0 0 0.05"/>
    <axis xyz="0 -1 0"/>
    <limit effort="10000" lower="0" upper="1.5707" velocity="0.5"/>
    <dynamics damping="0.2" friction="0"/>
  </joint>
  <transmission name="ankle_joint_trans">
    <type>transmission_interface/SimpleTransmission</type>
    <joint name="ankle_joint">
      <!-- dupricated in kinetic -->
      <!--hardwareInterface>hardware_interface/EffortJointInterface</hardwareInterface-->
      <!--hardwareInterface>EffortJointInterface</hardwareInterface-->
      <hardwareInterface>VelocityJointInterface</hardwareInterface>
    </joint>
    <actuator name="ankle_joint_motor">
      <!-- dupricated in kinetic -->
      <!--hardwareInterface>hardware_interface/EffortJointInterface</hardwareInterface-->
      <!--hardwareInterface>EffortJointInterface</hardwareInterface-->
      <hardwareInterface>VelocityJointInterface</hardwareInterface>
      <mechanicalReduction>1</mechanicalReduction>
    </actuator>
  </transmission>
  <gazebo reference="ankle_joint">
    <implicitSpringDamper>0</implicitSpringDamper>
  </gazebo>
  <!--- mimic joints -->
  <!-- requried -->
  <joint name="ankle_joint_mimic" type="revolute">
    <parent link="leg_shank_link"/>
    <child link="leg_knee_link"/>
    <origin rpy="0 0 0" xyz="0 0 0.25"/>
    <axis xyz="0 -1 0"/>
    <mimic joint="ankle_joint" multiplier="-1" offset="0"/>
    <limit effort="10000" lower="-1.5707" upper="0" velocity="0.5"/>
    <!-- just invert of ankle_joint -->
  </joint>
  <!-- redundant -->
  <link name="leg_shank_link_dummy">
    <visual>
      <geometry>
        <mesh filename="package://noid_description/meshes/typeC_lifter/lifter_bone_dummy.dae" scale="1 1 1"/>
      </geometry>
      <origin rpy="0 0 0" xyz="0 0 0.25"/>
    </visual>
    <inertial>
      <!-- for gazebo visualization -->
      <mass value="0.4"/>
      <origin rpy="0 0 0" xyz="-0.04 0.0 0.14"/>
      <inertia ixx="0.001" ixy="0" ixz="0" iyy="0.001" iyz="0" izz="0.001"/>
    </inertial>
  </link>
  <link name="leg_thigh_link_dummy">
    <visual>
      <geometry>
        <mesh filename="package://noid_description/meshes/typeC_lifter/lifter_bone_dummy.dae" scale="1 1 1"/>
      </geometry>
      <origin rpy="0 0 0" xyz="0 0 0.25"/>
    </visual>
    <inertial>
      <!-- for gazebo visualization -->
      <mass value="0.4"/>
      <origin rpy="0 0 0" xyz="-0.04 0.0 0.14"/>
      <inertia ixx="0.001" ixy="0" ixz="0" iyy="0.001" iyz="0" izz="0.001"/>
    </inertial>
  </link>
  <joint name="ankle_joint_dummy" type="continuous">
    <parent link="lifter_base_link"/>
    <child link="leg_shank_link_dummy"/>
    <origin rpy="0 0 0" xyz="0.03182 0 0.08182"/>
    <axis xyz="0 -1 0"/>
    <mimic joint="ankle_joint" multiplier="1" offset="0"/>
  </joint>
  <joint name="knee_joint_dummy" type="continuous">
    <parent link="leg_knee_link"/>
    <child link="leg_thigh_link_dummy"/>
    <origin rpy="0 0 0" xyz="0.03182 0 0.08818"/>
    <axis xyz="0 1 0"/>
    <mimic joint="knee_joint" multiplier="-1" offset="0"/>
  </joint>
  <!-- gazebo settings -->
  <!-- camera -->
  <link name="camera_frame"/>
  <link name="camera_optical_frame"/>
  <joint name="camera_setting" type="fixed">
    <parent link="head_link"/>
    <child link="camera_frame"/>
    <origin rpy="0 0.15 0" xyz="0 0.035 0.09"/>
  </joint>
  <joint name="camera_optical" type="fixed">
    <parent link="camera_frame"/>
    <child link="camera_optical_frame"/>
    <origin rpy="-1.570796326795 0 -1.570796326795" xyz="0 0 0"/>
  </joint>
  <!-- camera -->
  <gazebo reference="camera_frame">
    <sensor name="camera1" type="camera">
      <update_rate>15.0</update_rate>
      <camera name="head">
        <horizontal_fov>1.7</horizontal_fov>
        <!-- -->
        <image>
          <width>800</width>
          <height>800</height>
          <format>R8G8B8</format>
        </image>
        <clip>
          <near>0.15</near>
          <far>300</far>
        </clip>
        <noise>
          <type>gaussian</type>
          <!--Noise is sampled independently per pixel on each frame.
                 That pixel's noise value is added to each of its color
                 channels, which at that point lie in the range [0,1]. -->
          <mean>0.0</mean>
          <stddev>0.007</stddev>
        </noise>
      </camera>
      <plugin filename="libgazebo_ros_camera.so" name="camera_controller">
        <alwaysOn>true</alwaysOn>
        <updateRate>0.0</updateRate>
        <cameraName>camera</cameraName>
        <imageTopicName>image_raw</imageTopicName>
        <cameraInfoTopicName>camera_info</cameraInfoTopicName>
        <frameName>camera_optical_frame</frameName>
        <!--setting hackBaseline to anything but 0.0 will cause a misalignment
               between the gazebo sensor image and the frame it is supposed to
               be attached to-->
        <hackBaseline>0.0</hackBaseline>
        <distortionK1>0.0</distortionK1>
        <distortionK2>0.0</distortionK2>
        <distortionK3>0.0</distortionK3>
        <distortionT1>0.0</distortionT1>
        <distortionT2>0.0</distortionT2>
        <CxPrime>0</CxPrime>
        <Cx>0.0</Cx>
        <Cy>0.0</Cy>
        <focalLength>0.0</focalLength>
      </plugin>
    </sensor>
  </gazebo>
  <!-- hokuyo -->
  <gazebo reference="wheels_base_laser_link">
    <sensor name="head_hokuyo_sensor" type="ray">
      <pose>0 0 0 0 0 0</pose>
      <visualize>false</visualize>
      <update_rate>40</update_rate>
      <ray>
        <scan>
          <horizontal>
            <samples>1000</samples>
            <resolution>1</resolution>
            <min_angle>-2.35619449</min_angle>
            <max_angle>2.35619449</max_angle>
          </horizontal>
        </scan>
        <range>
          <min>0.5</min>
          <max>30.0</max>
          <resolution>0.01</resolution>
        </range>
        <noise>
          <type>gaussian</type>
          <!--
                 Noise parameters based on published spec for Hokuyo laser
                 achieving "+-30mm" accuracy at range < 10m.  A mean of 0.0m and
                 stddev of 0.01m will put 99.7% of samples within 0.03m of the true
                 reading.
                 -->
          <mean>0.0</mean>
          <stddev>0.01</stddev>
        </noise>
      </ray>
      <plugin filename="libgazebo_ros_laser.so" name="gazebo_ros_head_hokuyo_controller">
        <topicName>scan</topicName>
        <frameName>wheels_base_laser_link</frameName>
      </plugin>
    </sensor>
  </gazebo>
  <gazebo>
    <plugin filename="libgazebo_ros_control.so" name="gazebo_ros_control">
      <robotNamespace>/</robotNamespace>
      <robotSimType>gazebo_ros_control/DefaultRobotHWSim</robotSimType>
    </plugin>
  </gazebo>
  <!-- Base control -->
  <gazebo>
    <!--plugin name="cmd_vel_controller" filename="libgazebo_ros_planar_force_move.so"-->
    <plugin filename="libgazebo_ros_planar_force_move.so" name="cmd_vel_controller">
      <commandTopic>cmd_vel</commandTopic>
      <odometryTopic>odom</odometryTopic>
      <odometryFrame>odom</odometryFrame>
      <odometryRate>40.0</odometryRate>
      <robotBaseFrame>base_link</robotBaseFrame>
      <useForceFeedback>true</useForceFeedback>
      <appliedForceLink>base_link</appliedForceLink>
      <forceGainX>24000</forceGainX>
      <forceGainY>24000</forceGainY>
      <forceGainRot>6000</forceGainRot>
    </plugin>
  </gazebo>
  <!-- mimic joints -->
  <gazebo>
    <plugin filename="libmimic_plugin.so" name="mimic_updater">
      <!-- lifter -->
      <mimic D="80" I="0.1" P="4000" command_max="2000" command_min="-2000" i_max="500" i_min="-500" joint="knee_joint" multiplier="-1.0" offset="0.0">
        
       knee_joint_mimic
       
        <joint> knee_joint </joint>
        <offset> 0.0 </offset>
        <multiplier> -1.0 </multiplier>
        <P> 4000 </P>
        <I> 0.1 </I>
        <D> 80 </D>
        <i_max>  500 </i_max>
        <i_min> -500 </i_min>
        <command_max>  2000 </command_max>
        <command_min> -2000 </command_min>
      </mimic>
      <mimic D="80" I="0.1" P="4000" command_max="2000" command_min="-2000" i_max="500" i_min="-500" joint="ankle_joint" multiplier="-1.0" offset="0.0">
        
       ankle_joint_mimic
       
        <joint> ankle_joint </joint>
        <offset> 0.0 </offset>
        <multiplier> -1.0 </multiplier>
        <P> 4000 </P>
        <I> 0.1 </I>
        <D> 80 </D>
        <i_max>  500 </i_max>
        <i_min> -500 </i_min>
        <command_max>  2000 </command_max>
        <command_min> -2000 </command_min>
      </mimic>
      <!-- lifter(dummy) -->
      <mimic D="1" I="0.0" P="1000" command_max="200" command_min="-200" i_max="0" i_min="0" joint="knee_joint" multiplier="-1.0" offset="0.0">
        
       knee_joint_dummy
       
        <joint> knee_joint </joint>
        <offset> 0.0 </offset>
        <multiplier> -1.0 </multiplier>
        <P> 1000 </P>
        <I> 0.0 </I>
        <D> 1 </D>
        <i_max>  0 </i_max>
        <i_min> -0 </i_min>
        <command_max>  200 </command_max>
        <command_min> -200 </command_min>
      </mimic>
      <mimic D="1" I="0.0" P="1000" command_max="200" command_min="-200" i_max="0" i_min="0" joint="ankle_joint" multiplier="1.0" offset="0.0">
        
       ankle_joint_dummy
       
        <joint> ankle_joint </joint>
        <offset> 0.0 </offset>
        <multiplier> 1.0 </multiplier>
        <P> 1000 </P>
        <I> 0.0 </I>
        <D> 1 </D>
        <i_max>  0 </i_max>
        <i_min> -0 </i_min>
        <command_max>  200 </command_max>
        <command_min> -200 </command_min>
      </mimic>
      <!-- lhand -->
      <mimic D="0.03" I="0.0" P="30" command_max="50" command_min="-50" i_max="0" i_min="0" joint="l_thumb_joint" multiplier="-1.0" offset="0.0">
        
       l_indexbase_joint
       
        <joint> l_thumb_joint </joint>
        <offset> 0.0 </offset>
        <multiplier> -1.0 </multiplier>
        <P> 30 </P>
        <I> 0.0 </I>
        <D> 0.03 </D>
        <i_max>  0 </i_max>
        <i_min> -0 </i_min>
        <command_max>  50 </command_max>
        <command_min> -50 </command_min>
      </mimic>
      <mimic D="0.03" I="0.0" P="30" command_max="50" command_min="-50" i_max="0" i_min="0" joint="l_thumb_joint" multiplier="-0.3" offset="-0.2">
        
       l_indexmid_joint
       
        <joint> l_thumb_joint </joint>
        <offset> -0.2 </offset>
        <multiplier> -0.3 </multiplier>
        <P> 30 </P>
        <I> 0.0 </I>
        <D> 0.03 </D>
        <i_max>  0 </i_max>
        <i_min> -0 </i_min>
        <command_max>  50 </command_max>
        <command_min> -50 </command_min>
      </mimic>
      <mimic D="0.03" I="0.0" P="30" command_max="50" command_min="-50" i_max="0" i_min="0" joint="l_thumb_joint" multiplier="-0.3" offset="-0.2">
        
       l_indexend_joint
       
        <joint> l_thumb_joint </joint>
        <offset> -0.2 </offset>
        <multiplier> -0.3 </multiplier>
        <P> 30 </P>
        <I> 0.0 </I>
        <D> 0.03 </D>
        <i_max>  0 </i_max>
        <i_min> -0 </i_min>
        <command_max>  50 </command_max>
        <command_min> -50 </command_min>
      </mimic>
      <!-- rhand -->
      <mimic D="0.03" I="0.0" P="30" command_max="50" command_min="-50" i_max="0" i_min="0" joint="r_thumb_joint" multiplier="-1.0" offset="0.0">
        
       r_indexbase_joint
       
        <joint> r_thumb_joint </joint>
        <offset> 0.0 </offset>
        <multiplier> -1.0 </multiplier>
        <P> 30 </P>
        <I> 0.0 </I>
        <D> 0.03 </D>
        <i_max>  0 </i_max>
        <i_min> -0 </i_min>
        <command_max>  50 </command_max>
        <command_min> -50 </command_min>
      </mimic>
      <mimic D="0.03" I="0.0" P="30" command_max="50" command_min="-50" i_max="0" i_min="0" joint="r_thumb_joint" multiplier="-0.3" offset="0.2">
        
       r_indexmid_joint
       
        <joint> r_thumb_joint </joint>
        <offset> 0.2 </offset>
        <multiplier> -0.3 </multiplier>
        <P> 30 </P>
        <I> 0.0 </I>
        <D> 0.03 </D>
        <i_max>  0 </i_max>
        <i_min> -0 </i_min>
        <command_max>  50 </command_max>
        <command_min> -50 </command_min>
      </mimic>
      <mimic D="0.03" I="0.0" P="30" command_max="50" command_min="-50" i_max="0" i_min="0" joint="r_thumb_joint" multiplier="-0.3" offset="0.2">
        
       r_indexend_joint
       
        <joint> r_thumb_joint </joint>
        <offset> 0.2 </offset>
        <multiplier> -0.3 </multiplier>
        <P> 30 </P>
        <I> 0.0 </I>
        <D> 0.03 </D>
        <i_max>  0 </i_max>
        <i_min> -0 </i_min>
        <command_max>  50 </command_max>
        <command_min> -50 </command_min>
      </mimic>
    </plugin>
  </gazebo>
</robot>
